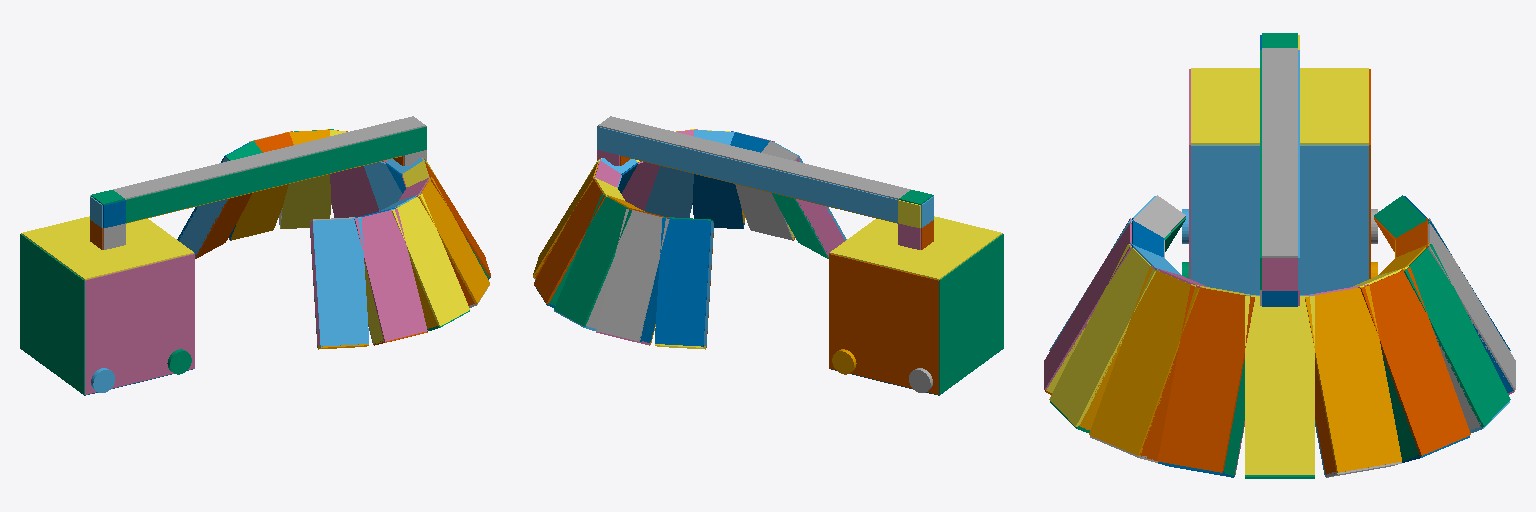
--- What the picture shows (computed from the rendered views, not written in the file) ---
The picture shows the robot from 3 angles, left to right: view 1: azimuth 30°, elevation 25°; view 2: azimuth 150°, elevation 25°; view 3: azimuth 270°, elevation 25°; orthographic projection.
Robot: robot — 109 links, 108 joints (2 continuous, 106 fixed); root link body; default pose: all joints at 0.
Links seen in each view (by area): view 1: body_sensor_0_right, body_sensor_0_stop, arm_sensor_0_right, hand_part_11_sensor_0_left, hand_part_12_sensor_0_left, body_sensor_0_top, hand_part_13_sensor_0_left, arm_sensor_0_top, hand_part_14_sensor_0_left, hand_part_3_sensor_0_right, hand_part_2_sensor_0_right, hand_part_4_sensor_0_right (+6 smaller); view 2: body_sensor_0_left, body_sensor_0_stop, arm_sensor_0_left, hand_part_5_sensor_0_left, hand_part_4_sensor_0_left, body_sensor_0_top, hand_part_3_sensor_0_left, arm_sensor_0_top, hand_part_2_sensor_0_left, hand_part_13_sensor_0_right, hand_part_14_sensor_0_right, hand_part_12_sensor_0_right (+6 smaller); view 3: body_sensor_0_start, hand_part_0_sensor_0_left, hand_part_1_sensor_0_left, hand_part_15_sensor_0_left, body_sensor_0_top, hand_part_2_sensor_0_left, hand_part_14_sensor_0_left, arm_sensor_0_top, hand_part_3_sensor_0_left, hand_part_13_sensor_0_left, hand_part_4_sensor_0_left, hand_part_12_sensor_0_left (+13 smaller).
Boxes of the visible links, x1=… form: body_sensor_0_right: x1=85, y1=254, x2=194, y2=394; body_sensor_0_stop: x1=20, y1=234, x2=84, y2=394; arm_sensor_0_right: x1=126, y1=127, x2=426, y2=222; hand_part_11_sensor_0_left: x1=313, y1=218, x2=368, y2=346; hand_part_12_sensor_0_left: x1=354, y1=209, x2=427, y2=341; body_sensor_0_top: x1=22, y1=216, x2=193, y2=279; hand_part_13_sensor_0_left: x1=392, y1=194, x2=469, y2=326; arm_sensor_0_top: x1=113, y1=116, x2=425, y2=199; hand_part_14_sensor_0_left: x1=418, y1=177, x2=489, y2=304; hand_part_3_sensor_0_right: x1=280, y1=174, x2=331, y2=228; hand_part_2_sensor_0_right: x1=330, y1=166, x2=379, y2=217; hand_part_4_sensor_0_right: x1=231, y1=184, x2=288, y2=240; body_sensor_0_left: x1=829, y1=254, x2=938, y2=394; body_sensor_0_stop: x1=939, y1=234, x2=1003, y2=394; arm_sensor_0_left: x1=597, y1=127, x2=897, y2=222; hand_part_5_sensor_0_left: x1=655, y1=218, x2=710, y2=346; hand_part_4_sensor_0_left: x1=596, y1=209, x2=669, y2=341; body_sensor_0_top: x1=830, y1=216, x2=1001, y2=279; hand_part_3_sensor_0_left: x1=554, y1=194, x2=631, y2=326; arm_sensor_0_top: x1=598, y1=116, x2=910, y2=199; hand_part_2_sensor_0_left: x1=534, y1=177, x2=605, y2=304; hand_part_13_sensor_0_right: x1=692, y1=174, x2=743, y2=228; hand_part_14_sensor_0_right: x1=644, y1=166, x2=693, y2=217; hand_part_12_sensor_0_right: x1=735, y1=184, x2=793, y2=240; body_sensor_0_start: x1=1191, y1=145, x2=1368, y2=294; hand_part_0_sensor_0_left: x1=1245, y1=296, x2=1314, y2=474; hand_part_1_sensor_0_left: x1=1305, y1=286, x2=1401, y2=472; hand_part_15_sensor_0_left: x1=1158, y1=286, x2=1254, y2=472; body_sensor_0_top: x1=1191, y1=68, x2=1368, y2=144; hand_part_2_sensor_0_left: x1=1360, y1=267, x2=1470, y2=455; hand_part_14_sensor_0_left: x1=1089, y1=267, x2=1199, y2=455; arm_sensor_0_top: x1=1262, y1=48, x2=1297, y2=257; hand_part_3_sensor_0_left: x1=1404, y1=244, x2=1510, y2=427; hand_part_13_sensor_0_left: x1=1049, y1=244, x2=1155, y2=426; hand_part_4_sensor_0_left: x1=1428, y1=218, x2=1515, y2=389; hand_part_12_sensor_0_left: x1=1044, y1=218, x2=1131, y2=389.
Size in the robot's own frame: 3.8 by 2.63 by 1.42 metres.
Geometry: primitives only (box / cylinder / sphere), no mesh files.

robot.urdf — robot:
<?xml version="1.0"?>
    <robot name="robot">


    <!-- body -->
    <link name="body">
        <inertial>
            <origin xyz="0 0 0" rpy="0 0 0"/>
            <mass value="100"/>
            <inertia ixx="15" ixy="0" ixz="0" iyy="15" iyz="0" izz="15"/>
        </inertial>
        <visual>
            <origin xyz="0 0 0" rpy="0 0 0"/>
            <geometry>
                <box size="1 1 1"/>
            </geometry>
        </visual>
        <collision>
            <origin xyz="0 0 0" rpy="0 0 0"/>
            <geometry>
                <box size="1 1 1"/>
            </geometry>
        </collision>
    </link>


    <!-- body_sensor_0_start -->
    <link name="body_sensor_0_start">
        <inertial>
            <origin xyz="0 0 0" rpy="0 0 0"/>
            <mass value="0"/>
            <inertia ixx="0" ixy="0" ixz="0" iyy="0" iyz="0" izz="0"/>
        </inertial>
        <visual>
            <origin xyz="0 0 0" rpy="0 0 0"/>
            <geometry>
                <box size="0.02 1 1"/>
            </geometry>
        </visual>
        <collision>
            <origin xyz="0 0 0" rpy="0 0 0"/>
            <geometry>
                <box size="0.02 1 1"/>
            </geometry>
        </collision>
    </link>
    <!-- Joint: body, body_sensor_0_start -->
    <joint name="body_body_sensor_0_start_joint" type="fixed">
        <parent link="body"/>
        <child link="body_sensor_0_start"/>
        <origin xyz="0.5 0 0"
                rpy="0 0 0"/>
        <axis xyz="0 0 1"/>
        
    </joint>


    <!-- body_sensor_0_stop -->
    <link name="body_sensor_0_stop">
        <inertial>
            <origin xyz="0 0 0" rpy="0 0 0"/>
            <mass value="0"/>
            <inertia ixx="0" ixy="0" ixz="0" iyy="0" iyz="0" izz="0"/>
        </inertial>
        <visual>
            <origin xyz="0 0 0" rpy="0 0 0"/>
            <geometry>
                <box size="0.02 1 1"/>
            </geometry>
        </visual>
        <collision>
            <origin xyz="0 0 0" rpy="0 0 0"/>
            <geometry>
                <box size="0.02 1 1"/>
            </geometry>
        </collision>
    </link>
    <!-- Joint: body, body_sensor_0_stop -->
    <joint name="body_body_sensor_0_stop_joint" type="fixed">
        <parent link="body"/>
        <child link="body_sensor_0_stop"/>
        <origin xyz="-0.5 0 0"
                rpy="0 0 0"/>
        <axis xyz="0 0 1"/>
        
    </joint>


    <!-- body_sensor_0_top -->
    <link name="body_sensor_0_top">
        <inertial>
            <origin xyz="0 0 0" rpy="0 0 0"/>
            <mass value="0"/>
            <inertia ixx="0" ixy="0" ixz="0" iyy="0" iyz="0" izz="0"/>
        </inertial>
        <visual>
            <origin xyz="0 0 0" rpy="0 0 0"/>
            <geometry>
                <box size="1.0 1 0.02"/>
            </geometry>
        </visual>
        <collision>
            <origin xyz="0 0 0" rpy="0 0 0"/>
            <geometry>
                <box size="1.0 1 0.02"/>
            </geometry>
        </collision>
    </link>
    <!-- Joint: body, body_sensor_0_top -->
    <joint name="body_body_sensor_0_top_joint" type="fixed">
        <parent link="body"/>
        <child link="body_sensor_0_top"/>
        <origin xyz="0 0 0.5"
                rpy="0 0 0"/>
        <axis xyz="0 0 1"/>
        
    </joint>


    <!-- body_sensor_0_bottom -->
    <link name="body_sensor_0_bottom">
        <inertial>
            <origin xyz="0 0 0" rpy="0 0 0"/>
            <mass value="0"/>
            <inertia ixx="0" ixy="0" ixz="0" iyy="0" iyz="0" izz="0"/>
        </inertial>
        <visual>
            <origin xyz="0 0 0" rpy="0 0 0"/>
            <geometry>
                <box size="1.0 1 0.02"/>
            </geometry>
        </visual>
        <collision>
            <origin xyz="0 0 0" rpy="0 0 0"/>
            <geometry>
                <box size="1.0 1 0.02"/>
            </geometry>
        </collision>
    </link>
    <!-- Joint: body, body_sensor_0_bottom -->
    <joint name="body_body_sensor_0_bottom_joint" type="fixed">
        <parent link="body"/>
        <child link="body_sensor_0_bottom"/>
        <origin xyz="0 0 -0.5"
                rpy="0 0 0"/>
        <axis xyz="0 0 1"/>
        
    </joint>


    <!-- body_sensor_0_left -->
    <link name="body_sensor_0_left">
        <inertial>
            <origin xyz="0 0 0" rpy="0 0 0"/>
            <mass value="0"/>
            <inertia ixx="0" ixy="0" ixz="0" iyy="0" iyz="0" izz="0"/>
        </inertial>
        <visual>
            <origin xyz="0 0 0" rpy="0 0 0"/>
            <geometry>
                <box size="1.0 0.02 1"/>
            </geometry>
        </visual>
        <collision>
            <origin xyz="0 0 0" rpy="0 0 0"/>
            <geometry>
                <box size="1.0 0.02 1"/>
            </geometry>
        </collision>
    </link>
    <!-- Joint: body, body_sensor_0_left -->
    <joint name="body_body_sensor_0_left_joint" type="fixed">
        <parent link="body"/>
        <child link="body_sensor_0_left"/>
        <origin xyz="0 0.5 0"
                rpy="0 0 0"/>
        <axis xyz="0 0 1"/>
        
    </joint>


    <!-- body_sensor_0_right -->
    <link name="body_sensor_0_right">
        <inertial>
            <origin xyz="0 0 0" rpy="0 0 0"/>
            <mass value="0"/>
            <inertia ixx="0" ixy="0" ixz="0" iyy="0" iyz="0" izz="0"/>
        </inertial>
        <visual>
            <origin xyz="0 0 0" rpy="0 0 0"/>
            <geometry>
                <box size="1.0 0.02 1"/>
            </geometry>
        </visual>
        <collision>
            <origin xyz="0 0 0" rpy="0 0 0"/>
            <geometry>
                <box size="1.0 0.02 1"/>
            </geometry>
        </collision>
    </link>
    <!-- Joint: body, body_sensor_0_right -->
    <joint name="body_body_sensor_0_right_joint" type="fixed">
        <parent link="body"/>
        <child link="body_sensor_0_right"/>
        <origin xyz="0 -0.5 0"
                rpy="0 0 0"/>
        <axis xyz="0 0 1"/>
        
    </joint>


    <!-- back_left_wheel -->
    <link name="back_left_wheel">
        <inertial>
            <origin xyz="0 0 0" rpy="0 0 0"/>
            <mass value="0.1"/>
            <inertia ixx="0.0005" ixy="0" ixz="0" iyy="0.0005" iyz="0" izz="0.0005"/>
        </inertial>
        <visual>
            <origin xyz="0 0 0" rpy="0 0 0"/>
            <geometry>
                <cylinder radius="0.1" length="0.1"/>
            </geometry>
        </visual>
        <collision>
            <origin xyz="0 0 0" rpy="0 0 0"/>
            <geometry>
                <cylinder radius="0.1" length="0.1"/>
            </geometry>
        </collision>
    </link>
    <!-- Joint: body, back_left_wheel -->
    <joint name="body_back_left_wheel_joint" type="fixed">
        <parent link="body"/>
        <child link="back_left_wheel"/>
        <origin xyz="-0.35 0.5 -0.4"
                rpy="1.5708 0 0"/>
        <axis xyz="1 0 0"/>
        
    </joint>


    <!-- from_left_wheel -->
    <link name="from_left_wheel">
        <inertial>
            <origin xyz="0 0 0" rpy="0 0 0"/>
            <mass value="0.1"/>
            <inertia ixx="0.0005" ixy="0" ixz="0" iyy="0.0005" iyz="0" izz="0.0005"/>
        </inertial>
        <visual>
            <origin xyz="0 0 0" rpy="0 0 0"/>
            <geometry>
                <cylinder radius="0.1" length="0.1"/>
            </geometry>
        </visual>
        <collision>
            <origin xyz="0 0 0" rpy="0 0 0"/>
            <geometry>
                <cylinder radius="0.1" length="0.1"/>
            </geometry>
        </collision>
    </link>
    <!-- Joint: body, from_left_wheel -->
    <joint name="body_from_left_wheel_joint" type="fixed">
        <parent link="body"/>
        <child link="from_left_wheel"/>
        <origin xyz="0.35 0.5 -0.4"
                rpy="1.5708 0 0"/>
        <axis xyz="1 0 0"/>
        
    </joint>


    <!-- back_right_wheel -->
    <link name="back_right_wheel">
        <inertial>
            <origin xyz="0 0 0" rpy="0 0 0"/>
            <mass value="0.1"/>
            <inertia ixx="0.0005" ixy="0" ixz="0" iyy="0.0005" iyz="0" izz="0.0005"/>
        </inertial>
        <visual>
            <origin xyz="0 0 0" rpy="0 0 0"/>
            <geometry>
                <cylinder radius="0.1" length="0.1"/>
            </geometry>
        </visual>
        <collision>
            <origin xyz="0 0 0" rpy="0 0 0"/>
            <geometry>
                <cylinder radius="0.1" length="0.1"/>
            </geometry>
        </collision>
    </link>
    <!-- Joint: body, back_right_wheel -->
    <joint name="body_back_right_wheel_joint" type="fixed">
        <parent link="body"/>
        <child link="back_right_wheel"/>
        <origin xyz="-0.35 -0.5 -0.4"
                rpy="1.5708 0 0"/>
        <axis xyz="1 0 0"/>
        
    </joint>


    <!-- from_right_wheel -->
    <link name="from_right_wheel">
        <inertial>
            <origin xyz="0 0 0" rpy="0 0 0"/>
            <mass value="0.1"/>
            <inertia ixx="0.0005" ixy="0" ixz="0" iyy="0.0005" iyz="0" izz="0.0005"/>
        </inertial>
        <visual>
            <origin xyz="0 0 0" rpy="0 0 0"/>
            <geometry>
                <cylinder radius="0.1" length="0.1"/>
            </geometry>
        </visual>
        <collision>
            <origin xyz="0 0 0" rpy="0 0 0"/>
            <geometry>
                <cylinder radius="0.1" length="0.1"/>
            </geometry>
        </collision>
    </link>
    <!-- Joint: body, from_right_wheel -->
    <joint name="body_from_right_wheel_joint" type="fixed">
        <parent link="body"/>
        <child link="from_right_wheel"/>
        <origin xyz="0.35 -0.5 -0.4"
                rpy="1.5708 0 0"/>
        <axis xyz="1 0 0"/>
        
    </joint>


    <!-- joint_1 -->
    <link name="joint_1">
        <inertial>
            <origin xyz="0 0 0" rpy="0 0 0"/>
            <mass value="2"/>
            <inertia ixx="0.01" ixy="0" ixz="0" iyy="0.01" iyz="0" izz="0.01"/>
        </inertial>
        <visual>
            <origin xyz="0 0 0" rpy="0 0 0"/>
            <geometry>
                <box size="0.2 0.2 0.2"/>
            </geometry>
        </visual>
        <collision>
            <origin xyz="0 0 0" rpy="0 0 0"/>
            <geometry>
                <box size="0.2 0.2 0.2"/>
            </geometry>
        </collision>
    </link>


    <!-- joint_1_sensor_0_start -->
    <link name="joint_1_sensor_0_start">
        <inertial>
            <origin xyz="0 0 0" rpy="0 0 0"/>
            <mass value="0"/>
            <inertia ixx="0" ixy="0" ixz="0" iyy="0" iyz="0" izz="0"/>
        </inertial>
        <visual>
            <origin xyz="0 0 0" rpy="0 0 0"/>
            <geometry>
                <box size="0.02 0.2 0.2"/>
            </geometry>
        </visual>
        <collision>
            <origin xyz="0 0 0" rpy="0 0 0"/>
            <geometry>
                <box size="0.02 0.2 0.2"/>
            </geometry>
        </collision>
    </link>
    <!-- Joint: joint_1, joint_1_sensor_0_start -->
    <joint name="joint_1_joint_1_sensor_0_start_joint" type="fixed">
        <parent link="joint_1"/>
        <child link="joint_1_sensor_0_start"/>
        <origin xyz="0.1 0 0"
                rpy="0 0 0"/>
        <axis xyz="0 0 1"/>
        
    </joint>


    <!-- joint_1_sensor_0_stop -->
    <link name="joint_1_sensor_0_stop">
        <inertial>
            <origin xyz="0 0 0" rpy="0 0 0"/>
            <mass value="0"/>
            <inertia ixx="0" ixy="0" ixz="0" iyy="0" iyz="0" izz="0"/>
        </inertial>
        <visual>
            <origin xyz="0 0 0" rpy="0 0 0"/>
            <geometry>
                <box size="0.02 0.2 0.2"/>
            </geometry>
        </visual>
        <collision>
            <origin xyz="0 0 0" rpy="0 0 0"/>
            <geometry>
                <box size="0.02 0.2 0.2"/>
            </geometry>
        </collision>
    </link>
    <!-- Joint: joint_1, joint_1_sensor_0_stop -->
    <joint name="joint_1_joint_1_sensor_0_stop_joint" type="fixed">
        <parent link="joint_1"/>
        <child link="joint_1_sensor_0_stop"/>
        <origin xyz="-0.1 0 0"
                rpy="0 0 0"/>
        <axis xyz="0 0 1"/>
        
    </joint>


    <!-- joint_1_sensor_0_left -->
    <link name="joint_1_sensor_0_left">
        <inertial>
            <origin xyz="0 0 0" rpy="0 0 0"/>
            <mass value="0"/>
            <inertia ixx="0" ixy="0" ixz="0" iyy="0" iyz="0" izz="0"/>
        </inertial>
        <visual>
            <origin xyz="0 0 0" rpy="0 0 0"/>
            <geometry>
                <box size="0.2 0.02 0.2"/>
            </geometry>
        </visual>
        <collision>
            <origin xyz="0 0 0" rpy="0 0 0"/>
            <geometry>
                <box size="0.2 0.02 0.2"/>
            </geometry>
        </collision>
    </link>
    <!-- Joint: joint_1, joint_1_sensor_0_left -->
    <joint name="joint_1_joint_1_sensor_0_left_joint" type="fixed">
        <parent link="joint_1"/>
        <child link="joint_1_sensor_0_left"/>
        <origin xyz="0 0.1 0"
                rpy="0 0 0"/>
        <axis xyz="0 0 1"/>
        
    </joint>


    <!-- joint_1_sensor_0_right -->
    <link name="joint_1_sensor_0_right">
        <inertial>
            <origin xyz="0 0 0" rpy="0 0 0"/>
            <mass value="0"/>
            <inertia ixx="0" ixy="0" ixz="0" iyy="0" iyz="0" izz="0"/>
        </inertial>
        <visual>
            <origin xyz="0 0 0" rpy="0 0 0"/>
            <geometry>
                <box size="0.2 0.02 0.2"/>
            </geometry>
        </visual>
        <collision>
            <origin xyz="0 0 0" rpy="0 0 0"/>
            <geometry>
                <box size="0.2 0.02 0.2"/>
            </geometry>
        </collision>
    </link>
    <!-- Joint: joint_1, joint_1_sensor_0_right -->
    <joint name="joint_1_joint_1_sensor_0_right_joint" type="fixed">
        <parent link="joint_1"/>
        <child link="joint_1_sensor_0_right"/>
        <origin xyz="0 -0.1 0"
                rpy="0 0 0"/>
        <axis xyz="0 0 1"/>
        
    </joint>
    <!-- Joint: body, joint_1 -->
    <joint name="body_joint_1_joint" type="continuous">
        <parent link="body"/>
        <child link="joint_1"/>
        <origin xyz="0 0 0.6"
                rpy="0 0 0"/>
        <axis xyz="0 0 1"/>
        <limit lower="-0.7853981633974483" upper="0.7853981633974483" effort="999" velocity="999"/>
    </joint>


    <!-- joint_2 -->
    <link name="joint_2">
        <inertial>
            <origin xyz="0 0 0" rpy="0 0 0"/>
            <mass value="2"/>
            <inertia ixx="0.01" ixy="0" ixz="0" iyy="0.01" iyz="0" izz="0.01"/>
        </inertial>
        <visual>
            <origin xyz="0 0 0" rpy="0 0 0"/>
            <geometry>
                <box size="0.2 0.2 0.2"/>
            </geometry>
        </visual>
        <collision>
            <origin xyz="0 0 0" rpy="0 0 0"/>
            <geometry>
                <box size="0.2 0.2 0.2"/>
            </geometry>
        </collision>
    </link>


    <!-- joint_2_sensor_0_stop -->
    <link name="joint_2_sensor_0_stop">
        <inertial>
            <origin xyz="0 0 0" rpy="0 0 0"/>
            <mass value="0"/>
            <inertia ixx="0" ixy="0" ixz="0" iyy="0" iyz="0" izz="0"/>
        </inertial>
        <visual>
            <origin xyz="0 0 0" rpy="0 0 0"/>
            <geometry>
                <box size="0.02 0.2 0.2"/>
            </geometry>
        </visual>
        <collision>
            <origin xyz="0 0 0" rpy="0 0 0"/>
            <geometry>
                <box size="0.02 0.2 0.2"/>
            </geometry>
        </collision>
    </link>
    <!-- Joint: joint_2, joint_2_sensor_0_stop -->
    <joint name="joint_2_joint_2_sensor_0_stop_joint" type="fixed">
        <parent link="joint_2"/>
        <child link="joint_2_sensor_0_stop"/>
        <origin xyz="-0.1 0 0"
                rpy="0 0 0"/>
        <axis xyz="0 1 0"/>
        
    </joint>


    <!-- joint_2_sensor_0_top -->
    <link name="joint_2_sensor_0_top">
        <inertial>
            <origin xyz="0 0 0" rpy="0 0 0"/>
            <mass value="0"/>
            <inertia ixx="0" ixy="0" ixz="0" iyy="0" iyz="0" izz="0"/>
        </inertial>
        <visual>
            <origin xyz="0 0 0" rpy="0 0 0"/>
            <geometry>
                <box size="0.2 0.2 0.02"/>
            </geometry>
        </visual>
        <collision>
            <origin xyz="0 0 0" rpy="0 0 0"/>
            <geometry>
                <box size="0.2 0.2 0.02"/>
            </geometry>
        </collision>
    </link>
    <!-- Joint: joint_2, joint_2_sensor_0_top -->
    <joint name="joint_2_joint_2_sensor_0_top_joint" type="fixed">
        <parent link="joint_2"/>
        <child link="joint_2_sensor_0_top"/>
        <origin xyz="0 0 0.1"
                rpy="0 0 0"/>
        <axis xyz="0 1 0"/>
        
    </joint>


    <!-- joint_2_sensor_0_left -->
    <link name="joint_2_sensor_0_left">
        <inertial>
            <origin xyz="0 0 0" rpy="0 0 0"/>
            <mass value="0"/>
            <inertia ixx="0" ixy="0" ixz="0" iyy="0" iyz="0" izz="0"/>
        </inertial>
        <visual>
            <origin xyz="0 0 0" rpy="0 0 0"/>
            <geometry>
                <box size="0.2 0.02 0.2"/>
            </geometry>
        </visual>
        <collision>
            <origin xyz="0 0 0" rpy="0 0 0"/>
            <geometry>
                <box size="0.2 0.02 0.2"/>
            </geometry>
        </collision>
    </link>
    <!-- Joint: joint_2, joint_2_sensor_0_left -->
    <joint name="joint_2_joint_2_sensor_0_left_joint" type="fixed">
        <parent link="joint_2"/>
        <child link="joint_2_sensor_0_left"/>
        <origin xyz="0 0.1 0"
                rpy="0 0 0"/>
        <axis xyz="0 1 0"/>
        
    </joint>


    <!-- joint_2_sensor_0_right -->
    <link name="joint_2_sensor_0_right">
        <inertial>
            <origin xyz="0 0 0" rpy="0 0 0"/>
            <mass value="0"/>
            <inertia ixx="0" ixy="0" ixz="0" iyy="0" iyz="0" izz="0"/>
        </inertial>
        <visual>
            <origin xyz="0 0 0" rpy="0 0 0"/>
            <geometry>
                <box size="0.2 0.02 0.2"/>
            </geometry>
        </visual>
        <collision>
            <origin xyz="0 0 0" rpy="0 0 0"/>
            <geometry>
                <box size="0.2 0.02 0.2"/>
            </geometry>
        </collision>
    </link>
    <!-- Joint: joint_2, joint_2_sensor_0_right -->
    <joint name="joint_2_joint_2_sensor_0_right_joint" type="fixed">
        <parent link="joint_2"/>
        <child link="joint_2_sensor_0_right"/>
        <origin xyz="0 -0.1 0"
                rpy="0 0 0"/>
        <axis xyz="0 1 0"/>
        
    </joint>
    <!-- Joint: joint_1, joint_2 -->
    <joint name="joint_1_joint_2_joint" type="continuous">
        <parent link="joint_1"/>
        <child link="joint_2"/>
        <origin xyz="0 0 0.2"
                rpy="0 0 0"/>
        <axis xyz="0 1 0"/>
        <limit lower="-1.5707963267948966" upper="0" effort="999" velocity="999"/>
    </joint>


    <!-- arm -->
    <link name="arm">
        <inertial>
            <origin xyz="0 0 0" rpy="0 0 0"/>
            <mass value="2"/>
            <inertia ixx="0.01" ixy="0" ixz="0" iyy="1.25" iyz="0" izz="1.25"/>
        </inertial>
        <visual>
            <origin xyz="0 0 0" rpy="0 0 0"/>
            <geometry>
                <box size="2.75 0.2 0.2"/>
            </geometry>
        </visual>
        <collision>
            <origin xyz="0 0 0" rpy="0 0 0"/>
            <geometry>
                <box size="2.75 0.2 0.2"/>
            </geometry>
        </collision>
    </link>


    <!-- arm_sensor_0_start -->
    <link name="arm_sensor_0_start">
        <inertial>
            <origin xyz="0 0 0" rpy="0 0 0"/>
            <mass value="0"/>
            <inertia ixx="0" ixy="0" ixz="0" iyy="0" iyz="0" izz="0"/>
        </inertial>
        <visual>
            <origin xyz="0 0 0" rpy="0 0 0"/>
            <geometry>
                <box size="0.02 0.2 0.2"/>
            </geometry>
        </visual>
        <collision>
            <origin xyz="0 0 0" rpy="0 0 0"/>
            <geometry>
                <box size="0.02 0.2 0.2"/>
            </geometry>
        </collision>
    </link>
    <!-- Joint: arm, arm_sensor_0_start -->
    <joint name="arm_arm_sensor_0_start_joint" type="fixed">
        <parent link="arm"/>
        <child link="arm_sensor_0_start"/>
        <origin xyz="1.375 0 0"
                rpy="0 0 0"/>
        <axis xyz="0 1 0"/>
        
    </joint>


    <!-- arm_sensor_0_top -->
    <link name="arm_sensor_0_top">
        <inertial>
            <origin xyz="0 0 0" rpy="0 0 0"/>
            <mass value="0"/>
            <inertia ixx="0" ixy="0" ixz="0" iyy="0" iyz="0" izz="0"/>
        </inertial>
        <visual>
            <origin xyz="0 0 0" rpy="0 0 0"/>
            <geometry>
                <box size="2.75 0.2 0.02"/>
            </geometry>
        </visual>
        <collision>
            <origin xyz="0 0 0" rpy="0 0 0"/>
            <geometry>
                <box size="2.75 0.2 0.02"/>
            </geometry>
        </collision>
    </link>
    <!-- Joint: arm, arm_sensor_0_top -->
    <joint name="arm_arm_sensor_0_top_joint" type="fixed">
        <parent link="arm"/>
        <child link="arm_sensor_0_top"/>
        <origin xyz="0 0 0.1"
                rpy="0 0 0"/>
        <axis xyz="0 1 0"/>
        
    </joint>


    <!-- arm_sensor_0_bottom -->
    <link name="arm_sensor_0_bottom">
        <inertial>
            <origin xyz="0 0 0" rpy="0 0 0"/>
            <mass value="0"/>
            <inertia ixx="0" ixy="0" ixz="0" iyy="0" iyz="0" izz="0"/>
        </inertial>
        <visual>
            <origin xyz="0 0 0" rpy="0 0 0"/>
            <geometry>
                <box size="2.75 0.2 0.02"/>
            </geometry>
        </visual>
        <collision>
            <origin xyz="0 0 0" rpy="0 0 0"/>
            <geometry>
                <box size="2.75 0.2 0.02"/>
            </geometry>
        </collision>
    </link>
    <!-- Joint: arm, arm_sensor_0_bottom -->
    <joint name="arm_arm_sensor_0_bottom_joint" type="fixed">
        <parent link="arm"/>
        <child link="arm_sensor_0_bottom"/>
        <origin xyz="0 0 -0.1"
                rpy="0 0 0"/>
        <axis xyz="0 1 0"/>
        
    </joint>


    <!-- arm_sensor_0_left -->
    <link name="arm_sensor_0_left">
        <inertial>
            <origin xyz="0 0 0" rpy="0 0 0"/>
            <mass value="0"/>
            <inertia ixx="0" ixy="0" ixz="0" iyy="0" iyz="0" izz="0"/>
        </inertial>
        <visual>
            <origin xyz="0 0 0" rpy="0 0 0"/>
            <geometry>
                <box size="2.75 0.02 0.2"/>
            </geometry>
        </visual>
        <collision>
            <origin xyz="0 0 0" rpy="0 0 0"/>
            <geometry>
                <box size="2.75 0.02 0.2"/>
            </geometry>
        </collision>
    </link>
    <!-- Joint: arm, arm_sensor_0_left -->
    <joint name="arm_arm_sensor_0_left_joint" type="fixed">
        <parent link="arm"/>
        <child link="arm_sensor_0_left"/>
        <origin xyz="0 0.1 0"
                rpy="0 0 0"/>
        <axis xyz="0 1 0"/>
        
    </joint>


    <!-- arm_sensor_0_right -->
    <link name="arm_sensor_0_right">
        <inertial>
            <origin xyz="0 0 0" rpy="0 0 0"/>
            <mass value="0"/>
            <inertia ixx="0" ixy="0" ixz="0" iyy="0" iyz="0" izz="0"/>
        </inertial>
        <visual>
            <origin xyz="0 0 0" rpy="0 0 0"/>
            <geometry>
                <box size="2.75 0.02 0.2"/>
            </geometry>
        </visual>
        <collision>
            <origin xyz="0 0 0" rpy="0 0 0"/>
            <geometry>
                <box size="2.75 0.02 0.2"/>
            </geometry>
        </collision>
    </link>
    <!-- Joint: arm, arm_sensor_0_right -->
    <joint name="arm_arm_sensor_0_right_joint" type="fixed">
        <parent link="arm"/>
        <child link="arm_sensor_0_right"/>
        <origin xyz="0 -0.1 0"
                rpy="0 0 0"/>
        <axis xyz="0 1 0"/>
        
    </joint>
    <!-- Joint: joint_2, arm -->
    <joint name="joint_2_arm_joint" type="fixed">
        <parent link="joint_2"/>
        <child link="arm"/>
        <origin xyz="1.475 0 0"
                rpy="0 0 0"/>
        <axis xyz="0 1 0"/>
        
    </joint>


    <!-- wrist -->
    <link name="wrist">
        <inertial>
            <origin xyz="0 0 0" rpy="0 0 0"/>
            <mass value="2"/>
            <inertia ixx="0.01" ixy="0" ixz="0" iyy="0.01" iyz="0" izz="0.01"/>
        </inertial>
        <visual>
            <origin xyz="0 0 0" rpy="0 0 0"/>
            <geometry>
                <box size="0.2 0.2 0.1"/>
            </geometry>
        </visual>
        <collision>
            <origin xyz="0 0 0" rpy="0 0 0"/>
            <geometry>
                <box size="0.2 0.2 0.1"/>
            </geometry>
        </collision>
    </link>


    <!-- wrist_sensor_0_start -->
    <link name="wrist_sensor_0_start">
        <inertial>
            <origin xyz="0 0 0" rpy="0 0 0"/>
            <mass value="0"/>
            <inertia ixx="0" ixy="0" ixz="0" iyy="0" iyz="0" izz="0"/>
        </inertial>
        <visual>
            <origin xyz="0 0 0" rpy="0 0 0"/>
            <geometry>
                <box size="0.02 0.2 0.1"/>
            </geometry>
        </visual>
        <collision>
            <origin xyz="0 0 0" rpy="0 0 0"/>
            <geometry>
                <box size="0.02 0.2 0.1"/>
            </geometry>
        </collision>
    </link>
    <!-- Joint: wrist, wrist_sensor_0_start -->
    <joint name="wrist_wrist_sensor_0_start_joint" type="fixed">
        <parent link="wrist"/>
        <child link="wrist_sensor_0_start"/>
        <origin xyz="0.1 0 0"
                rpy="0 0 0"/>
        <axis xyz="0 1 0"/>
        
    </joint>


    <!-- wrist_sensor_0_stop -->
    <link name="wrist_sensor_0_stop">
        <inertial>
            <origin xyz="0 0 0" rpy="0 0 0"/>
            <mass value="0"/>
            <inertia ixx="0" ixy="0" ixz="0" iyy="0" iyz="0" izz="0"/>
        </inertial>
        <visual>
            <origin xyz="0 0 0" rpy="0 0 0"/>
            <geometry>
                <box size="0.02 0.2 0.1"/>
            </geometry>
        </visual>
        <collision>
            <origin xyz="0 0 0" rpy="0 0 0"/>
            <geometry>
                <box size="0.02 0.2 0.1"/>
            </geometry>
        </collision>
    </link>
    <!-- Joint: wrist, wrist_sensor_0_stop -->
    <joint name="wrist_wrist_sensor_0_stop_joint" type="fixed">
        <parent link="wrist"/>
        <child link="wrist_sensor_0_stop"/>
        <origin xyz="-0.1 0 0"
                rpy="0 0 0"/>
        <axis xyz="0 1 0"/>
        
    </joint>


    <!-- wrist_sensor_0_left -->
    <link name="wrist_sensor_0_left">
        <inertial>
            <origin xyz="0 0 0" rpy="0 0 0"/>
            <mass value="0"/>
            <inertia ixx="0" ixy="0" ixz="0" iyy="0" iyz="0" izz="0"/>
        </inertial>
        <visual>
            <origin xyz="0 0 0" rpy="0 0 0"/>
            <geometry>
                <box size="0.2 0.02 0.1"/>
            </geometry>
        </visual>
        <collision>
            <origin xyz="0 0 0" rpy="0 0 0"/>
            <geometry>
                <box size="0.2 0.02 0.1"/>
            </geometry>
        </collision>
    </link>
    <!-- Joint: wrist, wrist_sensor_0_left -->
    <joint name="wrist_wrist_sensor_0_left_joint" type="fixed">
        <parent link="wrist"/>
        <child link="wrist_sensor_0_left"/>
        <origin xyz="0 0.1 0"
                rpy="0 0 0"/>
        <axis xyz="0 1 0"/>
        
    </joint>


    <!-- wrist_sensor_0_right -->
    <link name="wrist_sensor_0_right">
        <inertial>
            <origin xyz="0 0 0" rpy="0 0 0"/>
            <mass value="0"/>
            <inertia ixx="0" ixy="0" ixz="0" iyy="0" iyz="0" izz="0"/>
        </inertial>
        <visual>
            <origin xyz="0 0 0" rpy="0 0 0"/>
            <geometry>
                <box size="0.2 0.02 0.1"/>
            </geometry>
        </visual>
        <collision>
            <origin xyz="0 0 0" rpy="0 0 0"/>
            <geometry>
                <box size="0.2 0.02 0.1"/>
            </geometry>
        </collision>
    </link>
    <!-- Joint: wrist, wrist_sensor_0_right -->
    <joint name="wrist_wrist_sensor_0_right_joint" type="fixed">
        <parent link="wrist"/>
        <child link="wrist_sensor_0_right"/>
        <origin xyz="0 -0.1 0"
                rpy="0 0 0"/>
        <axis xyz="0 1 0"/>
        
    </joint>
    <!-- Joint: arm, wrist -->
    <joint name="arm_wrist_joint" type="fixed">
        <parent link="arm"/>
        <child link="wrist"/>
        <origin xyz="1.275 0 -0.15000000000000002"
                rpy="0 0 0"/>
        <axis xyz="0 1 0"/>
        
    </joint>


    <!-- hand_part_0 -->
    <link name="hand_part_0">
        <inertial>
            <origin xyz="0 0 0" rpy="0 0 0"/>
            <mass value="2"/>
            <inertia ixx="0.2" ixy="0" ixz="0" iyy="0.2" iyz="0" izz="0.03"/>
        </inertial>
        <visual>
            <origin xyz="0 0 0" rpy="0 0 0"/>
            <geometry>
                <box size="0.3901806440322565 0.2 1"/>
            </geometry>
        </visual>
        <collision>
            <origin xyz="0 0 0" rpy="0 0 0"/>
            <geometry>
                <box size="0.3901806440322565 0.2 1"/>
            </geometry>
        </collision>
    </link>


    <!-- hand_part_0_sensor_0_top -->
    <link name="hand_part_0_sensor_0_top">
        <inertial>
            <origin xyz="0 0 0" rpy="0 0 0"/>
            <mass value="0"/>
            <inertia ixx="0" ixy="0" ixz="0" iyy="0" iyz="0" izz="0"/>
        </inertial>
        <visual>
            <origin xyz="0 0 0" rpy="0 0 0"/>
            <geometry>
                <box size="0.3901806440322565 0.2 0.02"/>
            </geometry>
        </visual>
        <collision>
            <origin xyz="0 0 0" rpy="0 0 0"/>
            <geometry>
                <box size="0.3901806440322565 0.2 0.02"/>
            </geometry>
        </collision>
    </link>
    <!-- Joint: hand_part_0, hand_part_0_sensor_0_top -->
    <joint name="hand_part_0_hand_part_0_sensor_0_top_joint" type="fixed">
        <parent link="hand_part_0"/>
        <child link="hand_part_0_sensor_0_top"/>
        <origin xyz="0 0 0.5"
                rpy="0 0 0"/>
        <axis xyz="0 1 0"/>
        
    </joint>


    <!-- hand_part_0_sensor_0_bottom -->
    <link name="hand_part_0_sensor_0_bottom">
        <inertial>
            <origin xyz="0 0 0" rpy="0 0 0"/>
            <mass value="0"/>
            <inertia ixx="0" ixy="0" ixz="0" iyy="0" iyz="0" izz="0"/>
        </inertial>
        <visual>
            <origin xyz="0 0 0" rpy="0 0 0"/>
            <geometry>
                <box size="0.3901806440322565 0.2 0.02"/>
            </geometry>
        </visual>
        <collision>
            <origin xyz="0 0 0" rpy="0 0 0"/>
            <geometry>
                <box size="0.3901806440322565 0.2 0.02"/>
            </geometry>
        </collision>
    </link>
    <!-- Joint: hand_part_0, hand_part_0_sensor_0_bottom -->
    <joint name="hand_part_0_hand_part_0_sensor_0_bottom_joint" type="fixed">
        <parent link="hand_part_0"/>
        <child link="hand_part_0_sensor_0_bottom"/>
        <origin xyz="0 0 -0.5"
                rpy="0 0 0"/>
        <axis xyz="0 1 0"/>
        
    </joint>


    <!-- hand_part_0_sensor_0_left -->
    <link name="hand_part_0_sensor_0_left">
        <inertial>
            <origin xyz="0 0 0" rpy="0 0 0"/>
            <mass value="0"/>
            <inertia ixx="0" ixy="0" ixz="0" iyy="0" iyz="0" izz="0"/>
        </inertial>
        <visual>
            <origin xyz="0 0 0" rpy="0 0 0"/>
            <geometry>
                <box size="0.3901806440322565 0.02 1"/>
            </geometry>
        </visual>
        <collision>
            <origin xyz="0 0 0" rpy="0 0 0"/>
            <geometry>
                <box size="0.3901806440322565 0.02 1"/>
            </geometry>
        </collision>
    </link>
    <!-- Joint: hand_part_0, hand_part_0_sensor_0_left -->
    <joint name="hand_part_0_hand_part_0_sensor_0_left_joint" type="fixed">
        <parent link="hand_part_0"/>
        <child link="hand_part_0_sensor_0_left"/>
        <origin xyz="0 0.1 0"
                rpy="0 0 0"/>
        <axis xyz="0 1 0"/>
        
    </joint>


    <!-- hand_part_0_sensor_0_right -->
    <link name="hand_part_0_sensor_0_right">
        <inertial>
            <origin xyz="0 0 0" rpy="0 0 0"/>
            <mass value="0"/>
            <inertia ixx="0" ixy="0" ixz="0" iyy="0" iyz="0" izz="0"/>
        </inertial>
        <visual>
            <origin xyz="0 0 0" rpy="0 0 0"/>
            <geometry>
                <box size="0.3901806440322565 0.02 1"/>
            </geometry>
        </visual>
        <collision>
            <origin xyz="0 0 0" rpy="0 0 0"/>
            <geometry>
                <box size="0.3901806440322565 0.02 1"/>
            </geometry>
        </collision>
    </link>
    <!-- Joint: hand_part_0, hand_part_0_sensor_0_right -->
    <joint name="hand_part_0_hand_part_0_sensor_0_right_joint" type="fixed">
        <parent link="hand_part_0"/>
        <child link="hand_part_0_sensor_0_right"/>
        <origin xyz="0 -0.1 0"
                rpy="0 0 0"/>
        <axis xyz="0 1 0"/>
        
    </joint>
    <!-- Joint: wrist, hand_part_0 -->
    <joint name="wrist_hand_part_0_joint" type="fixed">
        <parent link="wrist"/>
        <child link="hand_part_0"/>
        <origin xyz="0.2 0.0 -0.5"
                rpy="0.5 0 -1.5707963267948966"/>
        <axis xyz="0 1 0"/>
        
    </joint>


    <!-- hand_part_1 -->
    <link name="hand_part_1">
        <inertial>
            <origin xyz="0 0 0" rpy="0 0 0"/>
            <mass value="2"/>
            <inertia ixx="0.2" ixy="0" ixz="0" iyy="0.2" iyz="0" izz="0.03"/>
        </inertial>
        <visual>
            <origin xyz="0 0 0" rpy="0 0 0"/>
            <geometry>
                <box size="0.3901806440322565 0.2 1"/>
            </geometry>
        </visual>
        <collision>
            <origin xyz="0 0 0" rpy="0 0 0"/>
            <geometry>
                <box size="0.3901806440322565 0.2 1"/>
            </geometry>
        </collision>
    </link>


    <!-- hand_part_1_sensor_0_top -->
    <link name="hand_part_1_sensor_0_top">
        <inertial>
            <origin xyz="0 0 0" rpy="0 0 0"/>
            <mass value="0"/>
            <inertia ixx="0" ixy="0" ixz="0" iyy="0" iyz="0" izz="0"/>
        </inertial>
        <visual>
            <origin xyz="0 0 0" rpy="0 0 0"/>
            <geometry>
                <box size="0.3901806440322565 0.2 0.02"/>
            </geometry>
        </visual>
        <collision>
            <origin xyz="0 0 0" rpy="0 0 0"/>
            <geometry>
                <box size="0.3901806440322565 0.2 0.02"/>
            </geometry>
        </collision>
    </link>
    <!-- Joint: hand_part_1, hand_part_1_sensor_0_top -->
    <joint name="hand_part_1_hand_part_1_sensor_0_top_joint" type="fixed">
        <parent link="hand_part_1"/>
        <child link="hand_part_1_sensor_0_top"/>
        <origin xyz="0 0 0.5"
                rpy="0 0 0"/>
        <axis xyz="0 1 0"/>
        
    </joint>


    <!-- hand_part_1_sensor_0_bottom -->
    <link name="hand_part_1_sensor_0_bottom">
        <inertial>
            <origin xyz="0 0 0" rpy="0 0 0"/>
            <mass value="0"/>
            <inertia ixx="0" ixy="0" ixz="0" iyy="0" iyz="0" izz="0"/>
        </inertial>
        <visual>
            <origin xyz="0 0 0" rpy="0 0 0"/>
            <geometry>
                <box size="0.3901806440322565 0.2 0.02"/>
            </geometry>
        </visual>
        <collision>
            <origin xyz="0 0 0" rpy="0 0 0"/>
            <geometry>
                <box size="0.3901806440322565 0.2 0.02"/>
            </geometry>
        </collision>
    </link>
    <!-- Joint: hand_part_1, hand_part_1_sensor_0_bottom -->
    <joint name="hand_part_1_hand_part_1_sensor_0_bottom_joint" type="fixed">
        <parent link="hand_part_1"/>
        <child link="hand_part_1_sensor_0_bottom"/>
        <origin xyz="0 0 -0.5"
                rpy="0 0 0"/>
        <axis xyz="0 1 0"/>
        
    </joint>


    <!-- hand_part_1_sensor_0_left -->
    <link name="hand_part_1_sensor_0_left">
        <inertial>
            <origin xyz="0 0 0" rpy="0 0 0"/>
            <mass value="0"/>
            <inertia ixx="0" ixy="0" ixz="0" iyy="0" iyz="0" izz="0"/>
        </inertial>
        <visual>
            <origin xyz="0 0 0" rpy="0 0 0"/>
            <geometry>
                <box size="0.3901806440322565 0.02 1"/>
            </geometry>
        </visual>
        <collision>
            <origin xyz="0 0 0" rpy="0 0 0"/>
            <geometry>
                <box size="0.3901806440322565 0.02 1"/>
            </geometry>
        </collision>
    </link>
    <!-- Joint: hand_part_1, hand_part_1_sensor_0_left -->
    <joint name="hand_part_1_hand_part_1_sensor_0_left_joint" type="fixed">
        <parent link="hand_part_1"/>
        <child link="hand_part_1_sensor_0_left"/>
        <origin xyz="0 0.1 0"
                rpy="0 0 0"/>
        <axis xyz="0 1 0"/>
        
    </joint>


    <!-- hand_part_1_sensor_0_right -->
    <link name="hand_part_1_sensor_0_right">
        <inertial>
            <origin xyz="0 0 0" rpy="0 0 0"/>
            <mass value="0"/>
            <inertia ixx="0" ixy="0" ixz="0" iyy="0" iyz="0" izz="0"/>
        </inertial>
        <visual>
            <origin xyz="0 0 0" rpy="0 0 0"/>
            <geometry>
                <box size="0.3901806440322565 0.02 1"/>
            </geometry>
        </visual>
        <collision>
            <origin xyz="0 0 0" rpy="0 0 0"/>
            <geometry>
                <box size="0.3901806440322565 0.02 1"/>
            </geometry>
        </collision>
    </link>
    <!-- Joint: hand_part_1, hand_part_1_sensor_0_right -->
    <joint name="hand_part_1_hand_part_1_sensor_0_right_joint" type="fixed">
        <parent link="hand_part_1"/>
        <child link="hand_part_1_sensor_0_right"/>
        <origin xyz="0 -0.1 0"
                rpy="0 0 0"/>
        <axis xyz="0 1 0"/>
        
    </joint>
    <!-- Joint: wrist, hand_part_1 -->
    <joint name="wrist_hand_part_1_joint" type="fixed">
        <parent link="wrist"/>
        <child link="hand_part_1"/>
        <origin xyz="0.1253421659496574 0.3753302775178652 -0.5"
                rpy="0.5 0 -1.1780972450961724"/>
        <axis xyz="0 1 0"/>
        
    </joint>


    <!-- hand_part_2 -->
    <link name="hand_part_2">
        <inertial>
            <origin xyz="0 0 0" rpy="0 0 0"/>
            <mass value="2"/>
            <inertia ixx="0.2" ixy="0" ixz="0" iyy="0.2" iyz="0" izz="0.03"/>
        </inertial>
        <visual>
            <origin xyz="0 0 0" rpy="0 0 0"/>
            <geometry>
                <box size="0.3901806440322565 0.2 1"/>
            </geometry>
        </visual>
        <collision>
            <origin xyz="0 0 0" rpy="0 0 0"/>
            <geometry>
                <box size="0.3901806440322565 0.2 1"/>
            </geometry>
        </collision>
    </link>


    <!-- hand_part_2_sensor_0_top -->
    <link name="hand_part_2_sensor_0_top">
        <inertial>
            <origin xyz="0 0 0" rpy="0 0 0"/>
            <mass value="0"/>
            <inertia ixx="0" ixy="0" ixz="0" iyy="0" iyz="0" izz="0"/>
        </inertial>
        <visual>
            <origin xyz="0 0 0" rpy="0 0 0"/>
            <geometry>
                <box size="0.3901806440322565 0.2 0.02"/>
            </geometry>
        </visual>
        <collision>
            <origin xyz="0 0 0" rpy="0 0 0"/>
            <geometry>
                <box size="0.3901806440322565 0.2 0.02"/>
            </geometry>
        </collision>
    </link>
    <!-- Joint: hand_part_2, hand_part_2_sensor_0_top -->
    <joint name="hand_part_2_hand_part_2_sensor_0_top_joint" type="fixed">
        <parent link="hand_part_2"/>
        <child link="hand_part_2_sensor_0_top"/>
        <origin xyz="0 0 0.5"
                rpy="0 0 0"/>
        <axis xyz="0 1 0"/>
        
    </joint>


    <!-- hand_part_2_sensor_0_bottom -->
    <link name="hand_part_2_sensor_0_bottom">
        <inertial>
            <origin xyz="0 0 0" rpy="0 0 0"/>
            <mass value="0"/>
            <inertia ixx="0" ixy="0" ixz="0" iyy="0" iyz="0" izz="0"/>
        </inertial>
        <visual>
            <origin xyz="0 0 0" rpy="0 0 0"/>
            <geometry>
                <box size="0.3901806440322565 0.2 0.02"/>
            </geometry>
        </visual>
        <collision>
            <origin xyz="0 0 0" rpy="0 0 0"/>
            <geometry>
                <box size="0.3901806440322565 0.2 0.02"/>
            </geometry>
        </collision>
    </link>
    <!-- Joint: hand_part_2, hand_part_2_sensor_0_bottom -->
    <joint name="hand_part_2_hand_part_2_sensor_0_bottom_joint" type="fixed">
        <parent link="hand_part_2"/>
        <child link="hand_part_2_sensor_0_bottom"/>
        <origin xyz="0 0 -0.5"
                rpy="0 0 0"/>
        <axis xyz="0 1 0"/>
        
    </joint>


    <!-- hand_part_2_sensor_0_left -->
    <link name="hand_part_2_sensor_0_left">
        <inertial>
            <origin xyz="0 0 0" rpy="0 0 0"/>
            <mass value="0"/>
            <inertia ixx="0" ixy="0" ixz="0" iyy="0" iyz="0" izz="0"/>
        </inertial>
        <visual>
            <origin xyz="0 0 0" rpy="0 0 0"/>
            <geometry>
                <box size="0.3901806440322565 0.02 1"/>
            </geometry>
        </visual>
        <collision>
            <origin xyz="0 0 0" rpy="0 0 0"/>
            <geometry>
                <box size="0.3901806440322565 0.02 1"/>
            </geometry>
        </collision>
    </link>
    <!-- Joint: hand_part_2, hand_part_2_sensor_0_left -->
    <joint name="hand_part_2_hand_part_2_sensor_0_left_joint" type="fixed">
        <parent link="hand_part_2"/>
        <child link="hand_part_2_sensor_0_left"/>
        <origin xyz="0 0.1 0"
                rpy="0 0 0"/>
        <axis xyz="0 1 0"/>
        
    </joint>


    <!-- hand_part_2_sensor_0_right -->
    <link name="hand_part_2_sensor_0_right">
        <inertial>
            <origin xyz="0 0 0" rpy="0 0 0"/>
            <mass value="0"/>
            <inertia ixx="0" ixy="0" ixz="0" iyy="0" iyz="0" izz="0"/>
        </inertial>
        <visual>
            <origin xyz="0 0 0" rpy="0 0 0"/>
            <geometry>
                <box size="0.3901806440322565 0.02 1"/>
            </geometry>
        </visual>
        <collision>
            <origin xyz="0 0 0" rpy="0 0 0"/>
            <geometry>
                <box size="0.3901806440322565 0.02 1"/>
            </geometry>
        </collision>
    </link>
    <!-- Joint: hand_part_2, hand_part_2_sensor_0_right -->
    <joint name="hand_part_2_hand_part_2_sensor_0_right_joint" type="fixed">
        <parent link="hand_part_2"/>
        <child link="hand_part_2_sensor_0_right"/>
        <origin xyz="0 -0.1 0"
                rpy="0 0 0"/>
        <axis xyz="0 1 0"/>
        
    </joint>
    <!-- Joint: wrist, hand_part_2 -->
    <joint name="wrist_hand_part_2_joint" type="fixed">
        <parent link="wrist"/>
        <child link="hand_part_2"/>
        <origin xyz="-0.0872653577421566 0.6935199226610735 -0.5"
                rpy="0.5 0 -0.7853981633974483"/>
        <axis xyz="0 1 0"/>
        
    </joint>


    <!-- hand_part_3 -->
    <link name="hand_part_3">
        <inertial>
            <origin xyz="0 0 0" rpy="0 0 0"/>
            <mass value="2"/>
            <inertia ixx="0.2" ixy="0" ixz="0" iyy="0.2" iyz="0" izz="0.03"/>
        </inertial>
        <visual>
            <origin xyz="0 0 0" rpy="0 0 0"/>
            <geometry>
                <box size="0.3901806440322565 0.2 1"/>
            </geometry>
        </visual>
        <collision>
            <origin xyz="0 0 0" rpy="0 0 0"/>
            <geometry>
                <box size="0.3901806440322565 0.2 1"/>
            </geometry>
        </collision>
    </link>


    <!-- hand_part_3_sensor_0_top -->
    <link name="hand_part_3_sensor_0_top">
        <inertial>
            <origin xyz="0 0 0" rpy="0 0 0"/>
            <mass value="0"/>
            <inertia ixx="0" ixy="0" ixz="0" iyy="0" iyz="0" izz="0"/>
        </inertial>
        <visual>
            <origin xyz="0 0 0" rpy="0 0 0"/>
            <geometry>
                <box size="0.3901806440322565 0.2 0.02"/>
            </geometry>
        </visual>
        <collision>
            <origin xyz="0 0 0" rpy="0 0 0"/>
            <geometry>
                <box size="0.3901806440322565 0.2 0.02"/>
            </geometry>
        </collision>
    </link>
    <!-- Joint: hand_part_3, hand_part_3_sensor_0_top -->
    <joint name="hand_part_3_hand_part_3_sensor_0_top_joint" type="fixed">
        <parent link="hand_part_3"/>
        <child link="hand_part_3_sensor_0_top"/>
        <origin xyz="0 0 0.5"
                rpy="0 0 0"/>
        <axis xyz="0 1 0"/>
        
    </joint>


    <!-- hand_part_3_sensor_0_bottom -->
    <link name="hand_part_3_sensor_0_bottom">
        <inertial>
            <origin xyz="0 0 0" rpy="0 0 0"/>
            <mass value="0"/>
            <inertia ixx="0" ixy="0" ixz="0" iyy="0" iyz="0" izz="0"/>
        </inertial>
        <visual>
            <origin xyz="0 0 0" rpy="0 0 0"/>
            <geometry>
                <box size="0.3901806440322565 0.2 0.02"/>
            </geometry>
        </visual>
        <collision>
            <origin xyz="0 0 0" rpy="0 0 0"/>
            <geometry>
                <box size="0.3901806440322565 0.2 0.02"/>
            </geometry>
        </collision>
    </link>
    <!-- Joint: hand_part_3, hand_part_3_sensor_0_bottom -->
    <joint name="hand_part_3_hand_part_3_sensor_0_bottom_joint" type="fixed">
        <parent link="hand_part_3"/>
        <child link="hand_part_3_sensor_0_bottom"/>
        <origin xyz="0 0 -0.5"
                rpy="0 0 0"/>
        <axis xyz="0 1 0"/>
        
    </joint>


    <!-- hand_part_3_sensor_0_left -->
    <link name="hand_part_3_sensor_0_left">
        <inertial>
            <origin xyz="0 0 0" rpy="0 0 0"/>
            <mass value="0"/>
            <inertia ixx="0" ixy="0" ixz="0" iyy="0" iyz="0" izz="0"/>
        </inertial>
        <visual>
            <origin xyz="0 0 0" rpy="0 0 0"/>
            <geometry>
                <box size="0.3901806440322565 0.02 1"/>
            </geometry>
        </visual>
        <collision>
            <origin xyz="0 0 0" rpy="0 0 0"/>
            <geometry>
                <box size="0.3901806440322565 0.02 1"/>
            </geometry>
        </collision>
    </link>
    <!-- Joint: hand_part_3, hand_part_3_sensor_0_left -->
    <joint name="hand_part_3_hand_part_3_sensor_0_left_joint" type="fixed">
        <parent link="hand_part_3"/>
        <child link="hand_part_3_sensor_0_left"/>
        <origin xyz="0 0.1 0"
                rpy="0 0 0"/>
        <axis xyz="0 1 0"/>
        
    </joint>


    <!-- hand_part_3_sensor_0_right -->
    <link name="hand_part_3_sensor_0_right">
        <inertial>
            <origin xyz="0 0 0" rpy="0 0 0"/>
            <mass value="0"/>
            <inertia ixx="0" ixy="0" ixz="0" iyy="0" iyz="0" izz="0"/>
        </inertial>
        <visual>
            <origin xyz="0 0 0" rpy="0 0 0"/>
            <geometry>
                <box size="0.3901806440322565 0.02 1"/>
            </geometry>
        </visual>
        <collision>
            <origin xyz="0 0 0" rpy="0 0 0"/>
            <geometry>
                <box size="0.3901806440322565 0.02 1"/>
            </geometry>
        </collision>
    </link>
    <!-- Joint: hand_part_3, hand_part_3_sensor_0_right -->
    <joint name="hand_part_3_hand_part_3_sensor_0_right_joint" type="fixed">
        <parent link="hand_part_3"/>
        <child link="hand_part_3_sensor_0_right"/>
        <origin xyz="0 -0.1 0"
                rpy="0 0 0"/>
        <axis xyz="0 1 0"/>
        
    </joint>
    <!-- Joint: wrist, hand_part_3 -->
    <joint name="wrist_hand_part_3_joint" type="fixed">
        <parent link="wrist"/>
        <child link="hand_part_3"/>
        <origin xyz="-0.405455002885365 0.9061274463528877 -0.5"
                rpy="0.5 0 -0.39269908169872414"/>
        <axis xyz="0 1 0"/>
        
    </joint>


    <!-- hand_part_4 -->
    <link name="hand_part_4">
        <inertial>
            <origin xyz="0 0 0" rpy="0 0 0"/>
            <mass value="2"/>
            <inertia ixx="0.2" ixy="0" ixz="0" iyy="0.2" iyz="0" izz="0.03"/>
        </inertial>
        <visual>
            <origin xyz="0 0 0" rpy="0 0 0"/>
            <geometry>
                <box size="0.3901806440322565 0.2 1"/>
            </geometry>
        </visual>
        <collision>
            <origin xyz="0 0 0" rpy="0 0 0"/>
            <geometry>
                <box size="0.3901806440322565 0.2 1"/>
            </geometry>
        </collision>
    </link>


    <!-- hand_part_4_sensor_0_top -->
    <link name="hand_part_4_sensor_0_top">
        <inertial>
            <origin xyz="0 0 0" rpy="0 0 0"/>
            <mass value="0"/>
            <inertia ixx="0" ixy="0" ixz="0" iyy="0" iyz="0" izz="0"/>
        </inertial>
        <visual>
            <origin xyz="0 0 0" rpy="0 0 0"/>
            <geometry>
                <box size="0.3901806440322565 0.2 0.02"/>
            </geometry>
        </visual>
        <collision>
            <origin xyz="0 0 0" rpy="0 0 0"/>
            <geometry>
                <box size="0.3901806440322565 0.2 0.02"/>
            </geometry>
        </collision>
    </link>
    <!-- Joint: hand_part_4, hand_part_4_sensor_0_top -->
    <joint name="hand_part_4_hand_part_4_sensor_0_top_joint" type="fixed">
        <parent link="hand_part_4"/>
        <child link="hand_part_4_sensor_0_top"/>
        <origin xyz="0 0 0.5"
                rpy="0 0 0"/>
        <axis xyz="0 1 0"/>
        
    </joint>


    <!-- hand_part_4_sensor_0_bottom -->
    <link name="hand_part_4_sensor_0_bottom">
        <inertial>
            <origin xyz="0 0 0" rpy="0 0 0"/>
            <mass value="0"/>
            <inertia ixx="0" ixy="0" ixz="0" iyy="0" iyz="0" izz="0"/>
        </inertial>
        <visual>
            <origin xyz="0 0 0" rpy="0 0 0"/>
            <geometry>
                <box size="0.3901806440322565 0.2 0.02"/>
            </geometry>
        </visual>
        <collision>
            <origin xyz="0 0 0" rpy="0 0 0"/>
            <geometry>
                <box size="0.3901806440322565 0.2 0.02"/>
            </geometry>
        </collision>
    </link>
    <!-- Joint: hand_part_4, hand_part_4_sensor_0_bottom -->
    <joint name="hand_part_4_hand_part_4_sensor_0_bottom_joint" type="fixed">
        <parent link="hand_part_4"/>
        <child link="hand_part_4_sensor_0_bottom"/>
        <origin xyz="0 0 -0.5"
                rpy="0 0 0"/>
        <axis xyz="0 1 0"/>
        
    </joint>


    <!-- hand_part_4_sensor_0_left -->
    <link name="hand_part_4_sensor_0_left">
        <inertial>
            <origin xyz="0 0 0" rpy="0 0 0"/>
            <mass value="0"/>
            <inertia ixx="0" ixy="0" ixz="0" iyy="0" iyz="0" izz="0"/>
        </inertial>
        <visual>
            <origin xyz="0 0 0" rpy="0 0 0"/>
            <geometry>
                <box size="0.3901806440322565 0.02 1"/>
            </geometry>
        </visual>
        <collision>
            <origin xyz="0 0 0" rpy="0 0 0"/>
            <geometry>
                <box size="0.3901806440322565 0.02 1"/>
            </geometry>
        </collision>
    </link>
    <!-- Joint: hand_part_4, hand_part_4_sensor_0_left -->
    <joint name="hand_part_4_hand_part_4_sensor_0_left_joint" type="fixed">
        <parent link="hand_part_4"/>
        <child link="hand_part_4_sensor_0_left"/>
        <origin xyz="0 0.1 0"
                rpy="0 0 0"/>
        <axis xyz="0 1 0"/>
        
    </joint>


    <!-- hand_part_4_sensor_0_right -->
    <link name="hand_part_4_sensor_0_right">
        <inertial>
            <origin xyz="0 0 0" rpy="0 0 0"/>
            <mass value="0"/>
            <inertia ixx="0" ixy="0" ixz="0" iyy="0" iyz="0" izz="0"/>
        </inertial>
        <visual>
            <origin xyz="0 0 0" rpy="0 0 0"/>
            <geometry>
                <box size="0.3901806440322565 0.02 1"/>
            </geometry>
        </visual>
        <collision>
            <origin xyz="0 0 0" rpy="0 0 0"/>
            <geometry>
                <box size="0.3901806440322565 0.02 1"/>
            </geometry>
        </collision>
    </link>
    <!-- Joint: hand_part_4, hand_part_4_sensor_0_right -->
    <joint name="hand_part_4_hand_part_4_sensor_0_right_joint" type="fixed">
        <parent link="hand_part_4"/>
        <child link="hand_part_4_sensor_0_right"/>
        <origin xyz="0 -0.1 0"
                rpy="0 0 0"/>
        <axis xyz="0 1 0"/>
        
    </joint>
    <!-- Joint: wrist, hand_part_4 -->
    <joint name="wrist_hand_part_4_joint" type="fixed">
        <parent link="wrist"/>
        <child link="hand_part_4"/>
        <origin xyz="-0.7807852804032303 0.9807852804032303 -0.5"
                rpy="0.5 0 0.0"/>
        <axis xyz="0 1 0"/>
        
    </joint>


    <!-- hand_part_5 -->
    <link name="hand_part_5">
        <inertial>
            <origin xyz="0 0 0" rpy="0 0 0"/>
            <mass value="2"/>
            <inertia ixx="0.2" ixy="0" ixz="0" iyy="0.2" iyz="0" izz="0.03"/>
        </inertial>
        <visual>
            <origin xyz="0 0 0" rpy="0 0 0"/>
            <geometry>
                <box size="0.3901806440322565 0.2 1"/>
            </geometry>
        </visual>
        <collision>
            <origin xyz="0 0 0" rpy="0 0 0"/>
            <geometry>
                <box size="0.3901806440322565 0.2 1"/>
            </geometry>
        </collision>
    </link>


    <!-- hand_part_5_sensor_0_top -->
    <link name="hand_part_5_sensor_0_top">
        <inertial>
            <origin xyz="0 0 0" rpy="0 0 0"/>
            <mass value="0"/>
            <inertia ixx="0" ixy="0" ixz="0" iyy="0" iyz="0" izz="0"/>
        </inertial>
        <visual>
            <origin xyz="0 0 0" rpy="0 0 0"/>
            <geometry>
                <box size="0.3901806440322565 0.2 0.02"/>
            </geometry>
        </visual>
        <collision>
            <origin xyz="0 0 0" rpy="0 0 0"/>
            <geometry>
                <box size="0.3901806440322565 0.2 0.02"/>
            </geometry>
        </collision>
    </link>
    <!-- Joint: hand_part_5, hand_part_5_sensor_0_top -->
    <joint name="hand_part_5_hand_part_5_sensor_0_top_joint" type="fixed">
        <parent link="hand_part_5"/>
        <child link="hand_part_5_sensor_0_top"/>
        <origin xyz="0 0 0.5"
                rpy="0 0 0"/>
        <axis xyz="0 1 0"/>
        
    </joint>


    <!-- hand_part_5_sensor_0_bottom -->
    <link name="hand_part_5_sensor_0_bottom">
        <inertial>
            <origin xyz="0 0 0" rpy="0 0 0"/>
            <mass value="0"/>
            <inertia ixx="0" ixy="0" ixz="0" iyy="0" iyz="0" izz="0"/>
        </inertial>
        <visual>
            <origin xyz="0 0 0" rpy="0 0 0"/>
            <geometry>
                <box size="0.3901806440322565 0.2 0.02"/>
            </geometry>
        </visual>
        <collision>
            <origin xyz="0 0 0" rpy="0 0 0"/>
            <geometry>
                <box size="0.3901806440322565 0.2 0.02"/>
            </geometry>
        </collision>
    </link>
    <!-- Joint: hand_part_5, hand_part_5_sensor_0_bottom -->
    <joint name="hand_part_5_hand_part_5_sensor_0_bottom_joint" type="fixed">
        <parent link="hand_part_5"/>
        <child link="hand_part_5_sensor_0_bottom"/>
        <origin xyz="0 0 -0.5"
                rpy="0 0 0"/>
        <axis xyz="0 1 0"/>
        
    </joint>


    <!-- hand_part_5_sensor_0_left -->
    <link name="hand_part_5_sensor_0_left">
        <inertial>
            <origin xyz="0 0 0" rpy="0 0 0"/>
            <mass value="0"/>
            <inertia ixx="0" ixy="0" ixz="0" iyy="0" iyz="0" izz="0"/>
        </inertial>
        <visual>
            <origin xyz="0 0 0" rpy="0 0 0"/>
            <geometry>
                <box size="0.3901806440322565 0.02 1"/>
            </geometry>
        </visual>
        <collision>
            <origin xyz="0 0 0" rpy="0 0 0"/>
            <geometry>
                <box size="0.3901806440322565 0.02 1"/>
            </geometry>
        </collision>
    </link>
    <!-- Joint: hand_part_5, hand_part_5_sensor_0_left -->
    <joint name="hand_part_5_hand_part_5_sensor_0_left_joint" type="fixed">
        <parent link="hand_part_5"/>
        <child link="hand_part_5_sensor_0_left"/>
        <origin xyz="0 0.1 0"
                rpy="0 0 0"/>
        <axis xyz="0 1 0"/>
        
    </joint>


    <!-- hand_part_5_sensor_0_right -->
    <link name="hand_part_5_sensor_0_right">
        <inertial>
            <origin xyz="0 0 0" rpy="0 0 0"/>
            <mass value="0"/>
            <inertia ixx="0" ixy="0" ixz="0" iyy="0" iyz="0" izz="0"/>
        </inertial>
        <visual>
            <origin xyz="0 0 0" rpy="0 0 0"/>
            <geometry>
                <box size="0.3901806440322565 0.02 1"/>
            </geometry>
        </visual>
        <collision>
            <origin xyz="0 0 0" rpy="0 0 0"/>
            <geometry>
                <box size="0.3901806440322565 0.02 1"/>
            </geometry>
        </collision>
    </link>
    <!-- Joint: hand_part_5, hand_part_5_sensor_0_right -->
    <joint name="hand_part_5_hand_part_5_sensor_0_right_joint" type="fixed">
        <parent link="hand_part_5"/>
        <child link="hand_part_5_sensor_0_right"/>
        <origin xyz="0 -0.1 0"
                rpy="0 0 0"/>
        <axis xyz="0 1 0"/>
        
    </joint>
    <!-- Joint: wrist, hand_part_5 -->
    <joint name="wrist_hand_part_5_joint" type="fixed">
        <parent link="wrist"/>
        <child link="hand_part_5"/>
        <origin xyz="-1.1561155579210953 0.9061274463528877 -0.5"
                rpy="0.5 0 0.39269908169872414"/>
        <axis xyz="0 1 0"/>
        
    </joint>


    <!-- hand_part_11 -->
    <link name="hand_part_11">
        <inertial>
            <origin xyz="0 0 0" rpy="0 0 0"/>
            <mass value="2"/>
            <inertia ixx="0.2" ixy="0" ixz="0" iyy="0.2" iyz="0" izz="0.03"/>
        </inertial>
        <visual>
            <origin xyz="0 0 0" rpy="0 0 0"/>
            <geometry>
                <box size="0.3901806440322565 0.2 1"/>
            </geometry>
        </visual>
        <collision>
            <origin xyz="0 0 0" rpy="0 0 0"/>
            <geometry>
                <box size="0.3901806440322565 0.2 1"/>
            </geometry>
        </collision>
    </link>


    <!-- hand_part_11_sensor_0_top -->
    <link name="hand_part_11_sensor_0_top">
        <inertial>
            <origin xyz="0 0 0" rpy="0 0 0"/>
            <mass value="0"/>
            <inertia ixx="0" ixy="0" ixz="0" iyy="0" iyz="0" izz="0"/>
        </inertial>
        <visual>
            <origin xyz="0 0 0" rpy="0 0 0"/>
            <geometry>
                <box size="0.3901806440322565 0.2 0.02"/>
            </geometry>
        </visual>
        <collision>
            <origin xyz="0 0 0" rpy="0 0 0"/>
            <geometry>
                <box size="0.3901806440322565 0.2 0.02"/>
            </geometry>
        </collision>
    </link>
    <!-- Joint: hand_part_11, hand_part_11_sensor_0_top -->
    <joint name="hand_part_11_hand_part_11_sensor_0_top_joint" type="fixed">
        <parent link="hand_part_11"/>
        <child link="hand_part_11_sensor_0_top"/>
        <origin xyz="0 0 0.5"
                rpy="0 0 0"/>
        <axis xyz="0 1 0"/>
        
    </joint>


    <!-- hand_part_11_sensor_0_bottom -->
    <link name="hand_part_11_sensor_0_bottom">
        <inertial>
            <origin xyz="0 0 0" rpy="0 0 0"/>
            <mass value="0"/>
            <inertia ixx="0" ixy="0" ixz="0" iyy="0" iyz="0" izz="0"/>
        </inertial>
        <visual>
            <origin xyz="0 0 0" rpy="0 0 0"/>
            <geometry>
                <box size="0.3901806440322565 0.2 0.02"/>
            </geometry>
        </visual>
        <collision>
            <origin xyz="0 0 0" rpy="0 0 0"/>
            <geometry>
                <box size="0.3901806440322565 0.2 0.02"/>
            </geometry>
        </collision>
    </link>
    <!-- Joint: hand_part_11, hand_part_11_sensor_0_bottom -->
    <joint name="hand_part_11_hand_part_11_sensor_0_bottom_joint" type="fixed">
        <parent link="hand_part_11"/>
        <child link="hand_part_11_sensor_0_bottom"/>
        <origin xyz="0 0 -0.5"
                rpy="0 0 0"/>
        <axis xyz="0 1 0"/>
        
    </joint>


    <!-- hand_part_11_sensor_0_left -->
    <link name="hand_part_11_sensor_0_left">
        <inertial>
            <origin xyz="0 0 0" rpy="0 0 0"/>
            <mass value="0"/>
            <inertia ixx="0" ixy="0" ixz="0" iyy="0" iyz="0" izz="0"/>
        </inertial>
        <visual>
            <origin xyz="0 0 0" rpy="0 0 0"/>
            <geometry>
                <box size="0.3901806440322565 0.02 1"/>
            </geometry>
        </visual>
        <collision>
            <origin xyz="0 0 0" rpy="0 0 0"/>
            <geometry>
                <box size="0.3901806440322565 0.02 1"/>
            </geometry>
        </collision>
    </link>
    <!-- Joint: hand_part_11, hand_part_11_sensor_0_left -->
    <joint name="hand_part_11_hand_part_11_sensor_0_left_joint" type="fixed">
        <parent link="hand_part_11"/>
        <child link="hand_part_11_sensor_0_left"/>
        <origin xyz="0 0.1 0"
                rpy="0 0 0"/>
        <axis xyz="0 1 0"/>
        
    </joint>


    <!-- hand_part_11_sensor_0_right -->
    <link name="hand_part_11_sensor_0_right">
        <inertial>
            <origin xyz="0 0 0" rpy="0 0 0"/>
            <mass value="0"/>
            <inertia ixx="0" ixy="0" ixz="0" iyy="0" iyz="0" izz="0"/>
        </inertial>
        <visual>
            <origin xyz="0 0 0" rpy="0 0 0"/>
            <geometry>
                <box size="0.3901806440322565 0.02 1"/>
            </geometry>
        </visual>
        <collision>
            <origin xyz="0 0 0" rpy="0 0 0"/>
            <geometry>
                <box size="0.3901806440322565 0.02 1"/>
            </geometry>
        </collision>
    </link>
    <!-- Joint: hand_part_11, hand_part_11_sensor_0_right -->
    <joint name="hand_part_11_hand_part_11_sensor_0_right_joint" type="fixed">
        <parent link="hand_part_11"/>
        <child link="hand_part_11_sensor_0_right"/>
        <origin xyz="0 -0.1 0"
                rpy="0 0 0"/>
        <axis xyz="0 1 0"/>
        
    </joint>
    <!-- Joint: wrist, hand_part_11 -->
    <joint name="wrist_hand_part_11_joint" type="fixed">
        <parent link="wrist"/>
        <child link="hand_part_11"/>
        <origin xyz="-1.156115557921096 -0.9061274463528874 -0.5"
                rpy="0.5 0 2.7488935718910685"/>
        <axis xyz="0 1 0"/>
        
    </joint>


    <!-- hand_part_12 -->
    <link name="hand_part_12">
        <inertial>
            <origin xyz="0 0 0" rpy="0 0 0"/>
            <mass value="2"/>
            <inertia ixx="0.2" ixy="0" ixz="0" iyy="0.2" iyz="0" izz="0.03"/>
        </inertial>
        <visual>
            <origin xyz="0 0 0" rpy="0 0 0"/>
            <geometry>
                <box size="0.3901806440322565 0.2 1"/>
            </geometry>
        </visual>
        <collision>
            <origin xyz="0 0 0" rpy="0 0 0"/>
            <geometry>
                <box size="0.3901806440322565 0.2 1"/>
            </geometry>
        </collision>
    </link>


    <!-- hand_part_12_sensor_0_top -->
    <link name="hand_part_12_sensor_0_top">
        <inertial>
            <origin xyz="0 0 0" rpy="0 0 0"/>
            <mass value="0"/>
            <inertia ixx="0" ixy="0" ixz="0" iyy="0" iyz="0" izz="0"/>
        </inertial>
        <visual>
            <origin xyz="0 0 0" rpy="0 0 0"/>
            <geometry>
                <box size="0.3901806440322565 0.2 0.02"/>
            </geometry>
        </visual>
        <collision>
            <origin xyz="0 0 0" rpy="0 0 0"/>
            <geometry>
                <box size="0.3901806440322565 0.2 0.02"/>
            </geometry>
        </collision>
    </link>
    <!-- Joint: hand_part_12, hand_part_12_sensor_0_top -->
    <joint name="hand_part_12_hand_part_12_sensor_0_top_joint" type="fixed">
        <parent link="hand_part_12"/>
        <child link="hand_part_12_sensor_0_top"/>
        <origin xyz="0 0 0.5"
                rpy="0 0 0"/>
        <axis xyz="0 1 0"/>
        
    </joint>


    <!-- hand_part_12_sensor_0_bottom -->
    <link name="hand_part_12_sensor_0_bottom">
        <inertial>
            <origin xyz="0 0 0" rpy="0 0 0"/>
            <mass value="0"/>
            <inertia ixx="0" ixy="0" ixz="0" iyy="0" iyz="0" izz="0"/>
        </inertial>
        <visual>
            <origin xyz="0 0 0" rpy="0 0 0"/>
            <geometry>
                <box size="0.3901806440322565 0.2 0.02"/>
            </geometry>
        </visual>
        <collision>
            <origin xyz="0 0 0" rpy="0 0 0"/>
            <geometry>
                <box size="0.3901806440322565 0.2 0.02"/>
            </geometry>
        </collision>
    </link>
    <!-- Joint: hand_part_12, hand_part_12_sensor_0_bottom -->
    <joint name="hand_part_12_hand_part_12_sensor_0_bottom_joint" type="fixed">
        <parent link="hand_part_12"/>
        <child link="hand_part_12_sensor_0_bottom"/>
        <origin xyz="0 0 -0.5"
                rpy="0 0 0"/>
        <axis xyz="0 1 0"/>
        
    </joint>


    <!-- hand_part_12_sensor_0_left -->
    <link name="hand_part_12_sensor_0_left">
        <inertial>
            <origin xyz="0 0 0" rpy="0 0 0"/>
            <mass value="0"/>
            <inertia ixx="0" ixy="0" ixz="0" iyy="0" iyz="0" izz="0"/>
        </inertial>
        <visual>
            <origin xyz="0 0 0" rpy="0 0 0"/>
            <geometry>
                <box size="0.3901806440322565 0.02 1"/>
            </geometry>
        </visual>
        <collision>
            <origin xyz="0 0 0" rpy="0 0 0"/>
            <geometry>
                <box size="0.3901806440322565 0.02 1"/>
            </geometry>
        </collision>
    </link>
    <!-- Joint: hand_part_12, hand_part_12_sensor_0_left -->
    <joint name="hand_part_12_hand_part_12_sensor_0_left_joint" type="fixed">
        <parent link="hand_part_12"/>
        <child link="hand_part_12_sensor_0_left"/>
        <origin xyz="0 0.1 0"
                rpy="0 0 0"/>
        <axis xyz="0 1 0"/>
        
    </joint>


    <!-- hand_part_12_sensor_0_right -->
    <link name="hand_part_12_sensor_0_right">
        <inertial>
            <origin xyz="0 0 0" rpy="0 0 0"/>
            <mass value="0"/>
            <inertia ixx="0" ixy="0" ixz="0" iyy="0" iyz="0" izz="0"/>
        </inertial>
        <visual>
            <origin xyz="0 0 0" rpy="0 0 0"/>
            <geometry>
                <box size="0.3901806440322565 0.02 1"/>
            </geometry>
        </visual>
        <collision>
            <origin xyz="0 0 0" rpy="0 0 0"/>
            <geometry>
                <box size="0.3901806440322565 0.02 1"/>
            </geometry>
        </collision>
    </link>
    <!-- Joint: hand_part_12, hand_part_12_sensor_0_right -->
    <joint name="hand_part_12_hand_part_12_sensor_0_right_joint" type="fixed">
        <parent link="hand_part_12"/>
        <child link="hand_part_12_sensor_0_right"/>
        <origin xyz="0 -0.1 0"
                rpy="0 0 0"/>
        <axis xyz="0 1 0"/>
        
    </joint>
    <!-- Joint: wrist, hand_part_12 -->
    <joint name="wrist_hand_part_12_joint" type="fixed">
        <parent link="wrist"/>
        <child link="hand_part_12"/>
        <origin xyz="-0.7807852804032305 -0.9807852804032303 -0.5"
                rpy="0.5 0 3.141592653589793"/>
        <axis xyz="0 1 0"/>
        
    </joint>


    <!-- hand_part_13 -->
    <link name="hand_part_13">
        <inertial>
            <origin xyz="0 0 0" rpy="0 0 0"/>
            <mass value="2"/>
            <inertia ixx="0.2" ixy="0" ixz="0" iyy="0.2" iyz="0" izz="0.03"/>
        </inertial>
        <visual>
            <origin xyz="0 0 0" rpy="0 0 0"/>
            <geometry>
                <box size="0.3901806440322565 0.2 1"/>
            </geometry>
        </visual>
        <collision>
            <origin xyz="0 0 0" rpy="0 0 0"/>
            <geometry>
                <box size="0.3901806440322565 0.2 1"/>
            </geometry>
        </collision>
    </link>


    <!-- hand_part_13_sensor_0_top -->
    <link name="hand_part_13_sensor_0_top">
        <inertial>
            <origin xyz="0 0 0" rpy="0 0 0"/>
            <mass value="0"/>
            <inertia ixx="0" ixy="0" ixz="0" iyy="0" iyz="0" izz="0"/>
        </inertial>
        <visual>
            <origin xyz="0 0 0" rpy="0 0 0"/>
            <geometry>
                <box size="0.3901806440322565 0.2 0.02"/>
            </geometry>
        </visual>
        <collision>
            <origin xyz="0 0 0" rpy="0 0 0"/>
            <geometry>
                <box size="0.3901806440322565 0.2 0.02"/>
            </geometry>
        </collision>
    </link>
    <!-- Joint: hand_part_13, hand_part_13_sensor_0_top -->
    <joint name="hand_part_13_hand_part_13_sensor_0_top_joint" type="fixed">
        <parent link="hand_part_13"/>
        <child link="hand_part_13_sensor_0_top"/>
        <origin xyz="0 0 0.5"
                rpy="0 0 0"/>
        <axis xyz="0 1 0"/>
        
    </joint>


    <!-- hand_part_13_sensor_0_bottom -->
    <link name="hand_part_13_sensor_0_bottom">
        <inertial>
            <origin xyz="0 0 0" rpy="0 0 0"/>
            <mass value="0"/>
            <inertia ixx="0" ixy="0" ixz="0" iyy="0" iyz="0" izz="0"/>
        </inertial>
        <visual>
            <origin xyz="0 0 0" rpy="0 0 0"/>
            <geometry>
                <box size="0.3901806440322565 0.2 0.02"/>
            </geometry>
        </visual>
        <collision>
            <origin xyz="0 0 0" rpy="0 0 0"/>
            <geometry>
                <box size="0.3901806440322565 0.2 0.02"/>
            </geometry>
        </collision>
    </link>
    <!-- Joint: hand_part_13, hand_part_13_sensor_0_bottom -->
    <joint name="hand_part_13_hand_part_13_sensor_0_bottom_joint" type="fixed">
        <parent link="hand_part_13"/>
        <child link="hand_part_13_sensor_0_bottom"/>
        <origin xyz="0 0 -0.5"
                rpy="0 0 0"/>
        <axis xyz="0 1 0"/>
        
    </joint>


    <!-- hand_part_13_sensor_0_left -->
    <link name="hand_part_13_sensor_0_left">
        <inertial>
            <origin xyz="0 0 0" rpy="0 0 0"/>
            <mass value="0"/>
            <inertia ixx="0" ixy="0" ixz="0" iyy="0" iyz="0" izz="0"/>
        </inertial>
        <visual>
            <origin xyz="0 0 0" rpy="0 0 0"/>
            <geometry>
                <box size="0.3901806440322565 0.02 1"/>
            </geometry>
        </visual>
        <collision>
            <origin xyz="0 0 0" rpy="0 0 0"/>
            <geometry>
                <box size="0.3901806440322565 0.02 1"/>
            </geometry>
        </collision>
    </link>
    <!-- Joint: hand_part_13, hand_part_13_sensor_0_left -->
    <joint name="hand_part_13_hand_part_13_sensor_0_left_joint" type="fixed">
        <parent link="hand_part_13"/>
        <child link="hand_part_13_sensor_0_left"/>
        <origin xyz="0 0.1 0"
                rpy="0 0 0"/>
        <axis xyz="0 1 0"/>
        
    </joint>


    <!-- hand_part_13_sensor_0_right -->
    <link name="hand_part_13_sensor_0_right">
        <inertial>
            <origin xyz="0 0 0" rpy="0 0 0"/>
            <mass value="0"/>
            <inertia ixx="0" ixy="0" ixz="0" iyy="0" iyz="0" izz="0"/>
        </inertial>
        <visual>
            <origin xyz="0 0 0" rpy="0 0 0"/>
            <geometry>
                <box size="0.3901806440322565 0.02 1"/>
            </geometry>
        </visual>
        <collision>
            <origin xyz="0 0 0" rpy="0 0 0"/>
            <geometry>
                <box size="0.3901806440322565 0.02 1"/>
            </geometry>
        </collision>
    </link>
    <!-- Joint: hand_part_13, hand_part_13_sensor_0_right -->
    <joint name="hand_part_13_hand_part_13_sensor_0_right_joint" type="fixed">
        <parent link="hand_part_13"/>
        <child link="hand_part_13_sensor_0_right"/>
        <origin xyz="0 -0.1 0"
                rpy="0 0 0"/>
        <axis xyz="0 1 0"/>
        
    </joint>
    <!-- Joint: wrist, hand_part_13 -->
    <joint name="wrist_hand_part_13_joint" type="fixed">
        <parent link="wrist"/>
        <child link="hand_part_13"/>
        <origin xyz="-0.4054550028853648 -0.9061274463528876 -0.5"
                rpy="0.5 0 3.5342917352885177"/>
        <axis xyz="0 1 0"/>
        
    </joint>


    <!-- hand_part_14 -->
    <link name="hand_part_14">
        <inertial>
            <origin xyz="0 0 0" rpy="0 0 0"/>
            <mass value="2"/>
            <inertia ixx="0.2" ixy="0" ixz="0" iyy="0.2" iyz="0" izz="0.03"/>
        </inertial>
        <visual>
            <origin xyz="0 0 0" rpy="0 0 0"/>
            <geometry>
                <box size="0.3901806440322565 0.2 1"/>
            </geometry>
        </visual>
        <collision>
            <origin xyz="0 0 0" rpy="0 0 0"/>
            <geometry>
                <box size="0.3901806440322565 0.2 1"/>
            </geometry>
        </collision>
    </link>


    <!-- hand_part_14_sensor_0_top -->
    <link name="hand_part_14_sensor_0_top">
        <inertial>
            <origin xyz="0 0 0" rpy="0 0 0"/>
            <mass value="0"/>
            <inertia ixx="0" ixy="0" ixz="0" iyy="0" iyz="0" izz="0"/>
        </inertial>
        <visual>
            <origin xyz="0 0 0" rpy="0 0 0"/>
            <geometry>
                <box size="0.3901806440322565 0.2 0.02"/>
            </geometry>
        </visual>
        <collision>
            <origin xyz="0 0 0" rpy="0 0 0"/>
            <geometry>
                <box size="0.3901806440322565 0.2 0.02"/>
            </geometry>
        </collision>
    </link>
    <!-- Joint: hand_part_14, hand_part_14_sensor_0_top -->
    <joint name="hand_part_14_hand_part_14_sensor_0_top_joint" type="fixed">
        <parent link="hand_part_14"/>
        <child link="hand_part_14_sensor_0_top"/>
        <origin xyz="0 0 0.5"
                rpy="0 0 0"/>
        <axis xyz="0 1 0"/>
        
    </joint>


    <!-- hand_part_14_sensor_0_bottom -->
    <link name="hand_part_14_sensor_0_bottom">
        <inertial>
            <origin xyz="0 0 0" rpy="0 0 0"/>
            <mass value="0"/>
            <inertia ixx="0" ixy="0" ixz="0" iyy="0" iyz="0" izz="0"/>
        </inertial>
        <visual>
            <origin xyz="0 0 0" rpy="0 0 0"/>
            <geometry>
                <box size="0.3901806440322565 0.2 0.02"/>
            </geometry>
        </visual>
        <collision>
            <origin xyz="0 0 0" rpy="0 0 0"/>
            <geometry>
                <box size="0.3901806440322565 0.2 0.02"/>
            </geometry>
        </collision>
    </link>
    <!-- Joint: hand_part_14, hand_part_14_sensor_0_bottom -->
    <joint name="hand_part_14_hand_part_14_sensor_0_bottom_joint" type="fixed">
        <parent link="hand_part_14"/>
        <child link="hand_part_14_sensor_0_bottom"/>
        <origin xyz="0 0 -0.5"
                rpy="0 0 0"/>
        <axis xyz="0 1 0"/>
        
    </joint>


    <!-- hand_part_14_sensor_0_left -->
    <link name="hand_part_14_sensor_0_left">
        <inertial>
            <origin xyz="0 0 0" rpy="0 0 0"/>
            <mass value="0"/>
            <inertia ixx="0" ixy="0" ixz="0" iyy="0" iyz="0" izz="0"/>
        </inertial>
        <visual>
            <origin xyz="0 0 0" rpy="0 0 0"/>
            <geometry>
                <box size="0.3901806440322565 0.02 1"/>
            </geometry>
        </visual>
        <collision>
            <origin xyz="0 0 0" rpy="0 0 0"/>
            <geometry>
                <box size="0.3901806440322565 0.02 1"/>
            </geometry>
        </collision>
    </link>
    <!-- Joint: hand_part_14, hand_part_14_sensor_0_left -->
    <joint name="hand_part_14_hand_part_14_sensor_0_left_joint" type="fixed">
        <parent link="hand_part_14"/>
        <child link="hand_part_14_sensor_0_left"/>
        <origin xyz="0 0.1 0"
                rpy="0 0 0"/>
        <axis xyz="0 1 0"/>
        
    </joint>


    <!-- hand_part_14_sensor_0_right -->
    <link name="hand_part_14_sensor_0_right">
        <inertial>
            <origin xyz="0 0 0" rpy="0 0 0"/>
            <mass value="0"/>
            <inertia ixx="0" ixy="0" ixz="0" iyy="0" iyz="0" izz="0"/>
        </inertial>
        <visual>
            <origin xyz="0 0 0" rpy="0 0 0"/>
            <geometry>
                <box size="0.3901806440322565 0.02 1"/>
            </geometry>
        </visual>
        <collision>
            <origin xyz="0 0 0" rpy="0 0 0"/>
            <geometry>
                <box size="0.3901806440322565 0.02 1"/>
            </geometry>
        </collision>
    </link>
    <!-- Joint: hand_part_14, hand_part_14_sensor_0_right -->
    <joint name="hand_part_14_hand_part_14_sensor_0_right_joint" type="fixed">
        <parent link="hand_part_14"/>
        <child link="hand_part_14_sensor_0_right"/>
        <origin xyz="0 -0.1 0"
                rpy="0 0 0"/>
        <axis xyz="0 1 0"/>
        
    </joint>
    <!-- Joint: wrist, hand_part_14 -->
    <joint name="wrist_hand_part_14_joint" type="fixed">
        <parent link="wrist"/>
        <child link="hand_part_14"/>
        <origin xyz="-0.08726535774215682 -0.6935199226610738 -0.5"
                rpy="0.5 0 3.9269908169872414"/>
        <axis xyz="0 1 0"/>
        
    </joint>


    <!-- hand_part_15 -->
    <link name="hand_part_15">
        <inertial>
            <origin xyz="0 0 0" rpy="0 0 0"/>
            <mass value="2"/>
            <inertia ixx="0.2" ixy="0" ixz="0" iyy="0.2" iyz="0" izz="0.03"/>
        </inertial>
        <visual>
            <origin xyz="0 0 0" rpy="0 0 0"/>
            <geometry>
                <box size="0.3901806440322565 0.2 1"/>
            </geometry>
        </visual>
        <collision>
            <origin xyz="0 0 0" rpy="0 0 0"/>
            <geometry>
                <box size="0.3901806440322565 0.2 1"/>
            </geometry>
        </collision>
    </link>


    <!-- hand_part_15_sensor_0_top -->
    <link name="hand_part_15_sensor_0_top">
        <inertial>
            <origin xyz="0 0 0" rpy="0 0 0"/>
            <mass value="0"/>
            <inertia ixx="0" ixy="0" ixz="0" iyy="0" iyz="0" izz="0"/>
        </inertial>
        <visual>
            <origin xyz="0 0 0" rpy="0 0 0"/>
            <geometry>
                <box size="0.3901806440322565 0.2 0.02"/>
            </geometry>
        </visual>
        <collision>
            <origin xyz="0 0 0" rpy="0 0 0"/>
            <geometry>
                <box size="0.3901806440322565 0.2 0.02"/>
            </geometry>
        </collision>
    </link>
    <!-- Joint: hand_part_15, hand_part_15_sensor_0_top -->
    <joint name="hand_part_15_hand_part_15_sensor_0_top_joint" type="fixed">
        <parent link="hand_part_15"/>
        <child link="hand_part_15_sensor_0_top"/>
        <origin xyz="0 0 0.5"
                rpy="0 0 0"/>
        <axis xyz="0 1 0"/>
        
    </joint>


    <!-- hand_part_15_sensor_0_bottom -->
    <link name="hand_part_15_sensor_0_bottom">
        <inertial>
            <origin xyz="0 0 0" rpy="0 0 0"/>
            <mass value="0"/>
            <inertia ixx="0" ixy="0" ixz="0" iyy="0" iyz="0" izz="0"/>
        </inertial>
        <visual>
            <origin xyz="0 0 0" rpy="0 0 0"/>
            <geometry>
                <box size="0.3901806440322565 0.2 0.02"/>
            </geometry>
        </visual>
        <collision>
            <origin xyz="0 0 0" rpy="0 0 0"/>
            <geometry>
                <box size="0.3901806440322565 0.2 0.02"/>
            </geometry>
        </collision>
    </link>
    <!-- Joint: hand_part_15, hand_part_15_sensor_0_bottom -->
    <joint name="hand_part_15_hand_part_15_sensor_0_bottom_joint" type="fixed">
        <parent link="hand_part_15"/>
        <child link="hand_part_15_sensor_0_bottom"/>
        <origin xyz="0 0 -0.5"
                rpy="0 0 0"/>
        <axis xyz="0 1 0"/>
        
    </joint>


    <!-- hand_part_15_sensor_0_left -->
    <link name="hand_part_15_sensor_0_left">
        <inertial>
            <origin xyz="0 0 0" rpy="0 0 0"/>
            <mass value="0"/>
            <inertia ixx="0" ixy="0" ixz="0" iyy="0" iyz="0" izz="0"/>
        </inertial>
        <visual>
            <origin xyz="0 0 0" rpy="0 0 0"/>
            <geometry>
                <box size="0.3901806440322565 0.02 1"/>
            </geometry>
        </visual>
        <collision>
            <origin xyz="0 0 0" rpy="0 0 0"/>
            <geometry>
                <box size="0.3901806440322565 0.02 1"/>
            </geometry>
        </collision>
    </link>
    <!-- Joint: hand_part_15, hand_part_15_sensor_0_left -->
    <joint name="hand_part_15_hand_part_15_sensor_0_left_joint" type="fixed">
        <parent link="hand_part_15"/>
        <child link="hand_part_15_sensor_0_left"/>
        <origin xyz="0 0.1 0"
                rpy="0 0 0"/>
        <axis xyz="0 1 0"/>
        
    </joint>


    <!-- hand_part_15_sensor_0_right -->
    <link name="hand_part_15_sensor_0_right">
        <inertial>
            <origin xyz="0 0 0" rpy="0 0 0"/>
            <mass value="0"/>
            <inertia ixx="0" ixy="0" ixz="0" iyy="0" iyz="0" izz="0"/>
        </inertial>
        <visual>
            <origin xyz="0 0 0" rpy="0 0 0"/>
            <geometry>
                <box size="0.3901806440322565 0.02 1"/>
            </geometry>
        </visual>
        <collision>
            <origin xyz="0 0 0" rpy="0 0 0"/>
            <geometry>
                <box size="0.3901806440322565 0.02 1"/>
            </geometry>
        </collision>
    </link>
    <!-- Joint: hand_part_15, hand_part_15_sensor_0_right -->
    <joint name="hand_part_15_hand_part_15_sensor_0_right_joint" type="fixed">
        <parent link="hand_part_15"/>
        <child link="hand_part_15_sensor_0_right"/>
        <origin xyz="0 -0.1 0"
                rpy="0 0 0"/>
        <axis xyz="0 1 0"/>
        
    </joint>
    <!-- Joint: wrist, hand_part_15 -->
    <joint name="wrist_hand_part_15_joint" type="fixed">
        <parent link="wrist"/>
        <child link="hand_part_15"/>
        <origin xyz="0.1253421659496572 -0.3753302775178658 -0.5"
                rpy="0.5 0 4.319689898685965"/>
        <axis xyz="0 1 0"/>
        
    </joint>


    <!-- body_face_front_0 -->
    <link name="body_face_front_0">
        <inertial>
            <origin xyz="0 0 0" rpy="0 0 0"/>
            <mass value="0"/>
            <inertia ixx="0.05" ixy="0.05" ixz="0.05" iyy="0.05" iyz="0.05" izz="0.05"/>
        </inertial>
        <visual>
            <origin xyz="0 0 0" rpy="0 0 0"/>
            <geometry>
                <box size="0.002 0.1111111111111111 0.1111111111111111"/>
            </geometry>
        </visual>
        <collision>
            <origin xyz="0 0 0" rpy="0 0 0"/>
            <geometry>
                <box size="0.002 0.1111111111111111 0.1111111111111111"/>
            </geometry>
        </collision>
    </link>
    <!-- Joint: body, body_face_front_0 -->
    <joint name="body_body_face_front_0_joint" type="fixed">
        <parent link="body"/>
        <child link="body_face_front_0"/>
        <origin xyz="0.501 -0.33333333333333337 0.11111111111111116"
                rpy="0 0 0"/>
        <axis xyz="0 0 1"/>
        
    </joint>


    <!-- body_face_front_1 -->
    <link name="body_face_front_1">
        <inertial>
            <origin xyz="0 0 0" rpy="0 0 0"/>
            <mass value="0"/>
            <inertia ixx="0.05" ixy="0.05" ixz="0.05" iyy="0.05" iyz="0.05" izz="0.05"/>
        </inertial>
        <visual>
            <origin xyz="0 0 0" rpy="0 0 0"/>
            <geometry>
                <box size="0.002 0.1111111111111111 0.1111111111111111"/>
            </geometry>
        </visual>
        <collision>
            <origin xyz="0 0 0" rpy="0 0 0"/>
            <geometry>
                <box size="0.002 0.1111111111111111 0.1111111111111111"/>
            </geometry>
        </collision>
    </link>
    <!-- Joint: body, body_face_front_1 -->
    <joint name="body_body_face_front_1_joint" type="fixed">
        <parent link="body"/>
        <child link="body_face_front_1"/>
        <origin xyz="0.501 -0.2222222222222222 0.2222222222222222"
                rpy="0 0 0"/>
        <axis xyz="0 0 1"/>
        
    </joint>


    <!-- body_face_front_2 -->
    <link name="body_face_front_2">
        <inertial>
            <origin xyz="0 0 0" rpy="0 0 0"/>
            <mass value="0"/>
            <inertia ixx="0.05" ixy="0.05" ixz="0.05" iyy="0.05" iyz="0.05" izz="0.05"/>
        </inertial>
        <visual>
            <origin xyz="0 0 0" rpy="0 0 0"/>
            <geometry>
                <box size="0.002 0.1111111111111111 0.1111111111111111"/>
            </geometry>
        </visual>
        <collision>
            <origin xyz="0 0 0" rpy="0 0 0"/>
            <geometry>
                <box size="0.002 0.1111111111111111 0.1111111111111111"/>
            </geometry>
        </collision>
    </link>
    <!-- Joint: body, body_face_front_2 -->
    <joint name="body_body_face_front_2_joint" type="fixed">
        <parent link="body"/>
        <child link="body_face_front_2"/>
        <origin xyz="0.501 -0.1111111111111111 0.11111111111111116"
                rpy="0 0 0"/>
        <axis xyz="0 0 1"/>
        
    </joint>


    <!-- body_face_front_3 -->
    <link name="body_face_front_3">
        <inertial>
            <origin xyz="0 0 0" rpy="0 0 0"/>
            <mass value="0"/>
            <inertia ixx="0.05" ixy="0.05" ixz="0.05" iyy="0.05" iyz="0.05" izz="0.05"/>
        </inertial>
        <visual>
            <origin xyz="0 0 0" rpy="0 0 0"/>
            <geometry>
                <box size="0.002 0.1111111111111111 0.1111111111111111"/>
            </geometry>
        </visual>
        <collision>
            <origin xyz="0 0 0" rpy="0 0 0"/>
            <geometry>
                <box size="0.002 0.1111111111111111 0.1111111111111111"/>
            </geometry>
        </collision>
    </link>
    <!-- Joint: body, body_face_front_3 -->
    <joint name="body_body_face_front_3_joint" type="fixed">
        <parent link="body"/>
        <child link="body_face_front_3"/>
        <origin xyz="0.501 -0.1111111111111111 -0.2222222222222222"
                rpy="0 0 0"/>
        <axis xyz="0 0 1"/>
        
    </joint>


    <!-- body_face_front_4 -->
    <link name="body_face_front_4">
        <inertial>
            <origin xyz="0 0 0" rpy="0 0 0"/>
            <mass value="0"/>
            <inertia ixx="0.05" ixy="0.05" ixz="0.05" iyy="0.05" iyz="0.05" izz="0.05"/>
        </inertial>
        <visual>
            <origin xyz="0 0 0" rpy="0 0 0"/>
            <geometry>
                <box size="0.002 0.1111111111111111 0.1111111111111111"/>
            </geometry>
        </visual>
        <collision>
            <origin xyz="0 0 0" rpy="0 0 0"/>
            <geometry>
                <box size="0.002 0.1111111111111111 0.1111111111111111"/>
            </geometry>
        </collision>
    </link>
    <!-- Joint: body, body_face_front_4 -->
    <joint name="body_body_face_front_4_joint" type="fixed">
        <parent link="body"/>
        <child link="body_face_front_4"/>
        <origin xyz="0.501 0.0 -0.2222222222222222"
                rpy="0 0 0"/>
        <axis xyz="0 0 1"/>
        
    </joint>


    <!-- body_face_front_5 -->
    <link name="body_face_front_5">
        <inertial>
            <origin xyz="0 0 0" rpy="0 0 0"/>
            <mass value="0"/>
            <inertia ixx="0.05" ixy="0.05" ixz="0.05" iyy="0.05" iyz="0.05" izz="0.05"/>
        </inertial>
        <visual>
            <origin xyz="0 0 0" rpy="0 0 0"/>
            <geometry>
                <box size="0.002 0.1111111111111111 0.1111111111111111"/>
            </geometry>
        </visual>
        <collision>
            <origin xyz="0 0 0" rpy="0 0 0"/>
            <geometry>
                <box size="0.002 0.1111111111111111 0.1111111111111111"/>
            </geometry>
        </collision>
    </link>
    <!-- Joint: body, body_face_front_5 -->
    <joint name="body_body_face_front_5_joint" type="fixed">
        <parent link="body"/>
        <child link="body_face_front_5"/>
        <origin xyz="0.501 0.11111111111111116 0.11111111111111116"
                rpy="0 0 0"/>
        <axis xyz="0 0 1"/>
        
    </joint>


    <!-- body_face_front_6 -->
    <link name="body_face_front_6">
        <inertial>
            <origin xyz="0 0 0" rpy="0 0 0"/>
            <mass value="0"/>
            <inertia ixx="0.05" ixy="0.05" ixz="0.05" iyy="0.05" iyz="0.05" izz="0.05"/>
        </inertial>
        <visual>
            <origin xyz="0 0 0" rpy="0 0 0"/>
            <geometry>
                <box size="0.002 0.1111111111111111 0.1111111111111111"/>
            </geometry>
        </visual>
        <collision>
            <origin xyz="0 0 0" rpy="0 0 0"/>
            <geometry>
                <box size="0.002 0.1111111111111111 0.1111111111111111"/>
            </geometry>
        </collision>
    </link>
    <!-- Joint: body, body_face_front_6 -->
    <joint name="body_body_face_front_6_joint" type="fixed">
        <parent link="body"/>
        <child link="body_face_front_6"/>
        <origin xyz="0.501 0.11111111111111116 -0.2222222222222222"
                rpy="0 0 0"/>
        <axis xyz="0 0 1"/>
        
    </joint>


    <!-- body_face_front_7 -->
    <link name="body_face_front_7">
        <inertial>
            <origin xyz="0 0 0" rpy="0 0 0"/>
            <mass value="0"/>
            <inertia ixx="0.05" ixy="0.05" ixz="0.05" iyy="0.05" iyz="0.05" izz="0.05"/>
        </inertial>
        <visual>
            <origin xyz="0 0 0" rpy="0 0 0"/>
            <geometry>
                <box size="0.002 0.1111111111111111 0.1111111111111111"/>
            </geometry>
        </visual>
        <collision>
            <origin xyz="0 0 0" rpy="0 0 0"/>
            <geometry>
                <box size="0.002 0.1111111111111111 0.1111111111111111"/>
            </geometry>
        </collision>
    </link>
    <!-- Joint: body, body_face_front_7 -->
    <joint name="body_body_face_front_7_joint" type="fixed">
        <parent link="body"/>
        <child link="body_face_front_7"/>
        <origin xyz="0.501 0.2222222222222222 0.2222222222222222"
                rpy="0 0 0"/>
        <axis xyz="0 0 1"/>
        
    </joint>


    <!-- body_face_front_8 -->
    <link name="body_face_front_8">
        <inertial>
            <origin xyz="0 0 0" rpy="0 0 0"/>
            <mass value="0"/>
            <inertia ixx="0.05" ixy="0.05" ixz="0.05" iyy="0.05" iyz="0.05" izz="0.05"/>
        </inertial>
        <visual>
            <origin xyz="0 0 0" rpy="0 0 0"/>
            <geometry>
                <box size="0.002 0.1111111111111111 0.1111111111111111"/>
            </geometry>
        </visual>
        <collision>
            <origin xyz="0 0 0" rpy="0 0 0"/>
            <geometry>
                <box size="0.002 0.1111111111111111 0.1111111111111111"/>
            </geometry>
        </collision>
    </link>
    <!-- Joint: body, body_face_front_8 -->
    <joint name="body_body_face_front_8_joint" type="fixed">
        <parent link="body"/>
        <child link="body_face_front_8"/>
        <origin xyz="0.501 0.33333333333333337 0.11111111111111116"
                rpy="0 0 0"/>
        <axis xyz="0 0 1"/>
        
    </joint>


    <!-- body_face_top_0 -->
    <link name="body_face_top_0">
        <inertial>
            <origin xyz="0 0 0" rpy="0 0 0"/>
            <mass value="0"/>
            <inertia ixx="0.05" ixy="0.05" ixz="0.05" iyy="0.05" iyz="0.05" izz="0.05"/>
        </inertial>
        <visual>
            <origin xyz="0 0 0" rpy="0 0 0"/>
            <geometry>
                <box size="0.1111111111111111 0.1111111111111111 0.002"/>
            </geometry>
        </visual>
        <collision>
            <origin xyz="0 0 0" rpy="0 0 0"/>
            <geometry>
                <box size="0.1111111111111111 0.1111111111111111 0.002"/>
            </geometry>
        </collision>
    </link>
    <!-- Joint: body, body_face_top_0 -->
    <joint name="body_body_face_top_0_joint" type="fixed">
        <parent link="body"/>
        <child link="body_face_top_0"/>
        <origin xyz="0.11111111111111116 -0.2222222222222222 0.501"
                rpy="0 0 0"/>
        <axis xyz="0 0 1"/>
        
    </joint>


    <!-- body_face_top_1 -->
    <link name="body_face_top_1">
        <inertial>
            <origin xyz="0 0 0" rpy="0 0 0"/>
            <mass value="0"/>
            <inertia ixx="0.05" ixy="0.05" ixz="0.05" iyy="0.05" iyz="0.05" izz="0.05"/>
        </inertial>
        <visual>
            <origin xyz="0 0 0" rpy="0 0 0"/>
            <geometry>
                <box size="0.1111111111111111 0.1111111111111111 0.002"/>
            </geometry>
        </visual>
        <collision>
            <origin xyz="0 0 0" rpy="0 0 0"/>
            <geometry>
                <box size="0.1111111111111111 0.1111111111111111 0.002"/>
            </geometry>
        </collision>
    </link>
    <!-- Joint: body, body_face_top_1 -->
    <joint name="body_body_face_top_1_joint" type="fixed">
        <parent link="body"/>
        <child link="body_face_top_1"/>
        <origin xyz="0.11111111111111116 -0.1111111111111111 0.501"
                rpy="0 0 0"/>
        <axis xyz="0 0 1"/>
        
    </joint>


    <!-- body_face_top_2 -->
    <link name="body_face_top_2">
        <inertial>
            <origin xyz="0 0 0" rpy="0 0 0"/>
            <mass value="0"/>
            <inertia ixx="0.05" ixy="0.05" ixz="0.05" iyy="0.05" iyz="0.05" izz="0.05"/>
        </inertial>
        <visual>
            <origin xyz="0 0 0" rpy="0 0 0"/>
            <geometry>
                <box size="0.1111111111111111 0.1111111111111111 0.002"/>
            </geometry>
        </visual>
        <collision>
            <origin xyz="0 0 0" rpy="0 0 0"/>
            <geometry>
                <box size="0.1111111111111111 0.1111111111111111 0.002"/>
            </geometry>
        </collision>
    </link>
    <!-- Joint: body, body_face_top_2 -->
    <joint name="body_body_face_top_2_joint" type="fixed">
        <parent link="body"/>
        <child link="body_face_top_2"/>
        <origin xyz="0.2222222222222222 -0.1111111111111111 0.501"
                rpy="0 0 0"/>
        <axis xyz="0 0 1"/>
        
    </joint>


    <!-- body_face_top_3 -->
    <link name="body_face_top_3">
        <inertial>
            <origin xyz="0 0 0" rpy="0 0 0"/>
            <mass value="0"/>
            <inertia ixx="0.05" ixy="0.05" ixz="0.05" iyy="0.05" iyz="0.05" izz="0.05"/>
        </inertial>
        <visual>
            <origin xyz="0 0 0" rpy="0 0 0"/>
            <geometry>
                <box size="0.1111111111111111 0.1111111111111111 0.002"/>
            </geometry>
        </visual>
        <collision>
            <origin xyz="0 0 0" rpy="0 0 0"/>
            <geometry>
                <box size="0.1111111111111111 0.1111111111111111 0.002"/>
            </geometry>
        </collision>
    </link>
    <!-- Joint: body, body_face_top_3 -->
    <joint name="body_body_face_top_3_joint" type="fixed">
        <parent link="body"/>
        <child link="body_face_top_3"/>
        <origin xyz="-0.33333333333333337 0.0 0.501"
                rpy="0 0 0"/>
        <axis xyz="0 0 1"/>
        
    </joint>


    <!-- body_face_top_4 -->
    <link name="body_face_top_4">
        <inertial>
            <origin xyz="0 0 0" rpy="0 0 0"/>
            <mass value="0"/>
            <inertia ixx="0.05" ixy="0.05" ixz="0.05" iyy="0.05" iyz="0.05" izz="0.05"/>
        </inertial>
        <visual>
            <origin xyz="0 0 0" rpy="0 0 0"/>
            <geometry>
                <box size="0.1111111111111111 0.1111111111111111 0.002"/>
            </geometry>
        </visual>
        <collision>
            <origin xyz="0 0 0" rpy="0 0 0"/>
            <geometry>
                <box size="0.1111111111111111 0.1111111111111111 0.002"/>
            </geometry>
        </collision>
    </link>
    <!-- Joint: body, body_face_top_4 -->
    <joint name="body_body_face_top_4_joint" type="fixed">
        <parent link="body"/>
        <child link="body_face_top_4"/>
        <origin xyz="-0.2222222222222222 0.0 0.501"
                rpy="0 0 0"/>
        <axis xyz="0 0 1"/>
        
    </joint>


    <!-- body_face_top_5 -->
    <link name="body_face_top_5">
        <inertial>
            <origin xyz="0 0 0" rpy="0 0 0"/>
            <mass value="0"/>
            <inertia ixx="0.05" ixy="0.05" ixz="0.05" iyy="0.05" iyz="0.05" izz="0.05"/>
        </inertial>
        <visual>
            <origin xyz="0 0 0" rpy="0 0 0"/>
            <geometry>
                <box size="0.1111111111111111 0.1111111111111111 0.002"/>
            </geometry>
        </visual>
        <collision>
            <origin xyz="0 0 0" rpy="0 0 0"/>
            <geometry>
                <box size="0.1111111111111111 0.1111111111111111 0.002"/>
            </geometry>
        </collision>
    </link>
    <!-- Joint: body, body_face_top_5 -->
    <joint name="body_body_face_top_5_joint" type="fixed">
        <parent link="body"/>
        <child link="body_face_top_5"/>
        <origin xyz="-0.1111111111111111 0.0 0.501"
                rpy="0 0 0"/>
        <axis xyz="0 0 1"/>
        
    </joint>


    <!-- body_face_top_6 -->
    <link name="body_face_top_6">
        <inertial>
            <origin xyz="0 0 0" rpy="0 0 0"/>
            <mass value="0"/>
            <inertia ixx="0.05" ixy="0.05" ixz="0.05" iyy="0.05" iyz="0.05" izz="0.05"/>
        </inertial>
        <visual>
            <origin xyz="0 0 0" rpy="0 0 0"/>
            <geometry>
                <box size="0.1111111111111111 0.1111111111111111 0.002"/>
            </geometry>
        </visual>
        <collision>
            <origin xyz="0 0 0" rpy="0 0 0"/>
            <geometry>
                <box size="0.1111111111111111 0.1111111111111111 0.002"/>
            </geometry>
        </collision>
    </link>
    <!-- Joint: body, body_face_top_6 -->
    <joint name="body_body_face_top_6_joint" type="fixed">
        <parent link="body"/>
        <child link="body_face_top_6"/>
        <origin xyz="0.0 0.0 0.501"
                rpy="0 0 0"/>
        <axis xyz="0 0 1"/>
        
    </joint>


    <!-- body_face_top_7 -->
    <link name="body_face_top_7">
        <inertial>
            <origin xyz="0 0 0" rpy="0 0 0"/>
            <mass value="0"/>
            <inertia ixx="0.05" ixy="0.05" ixz="0.05" iyy="0.05" iyz="0.05" izz="0.05"/>
        </inertial>
        <visual>
            <origin xyz="0 0 0" rpy="0 0 0"/>
            <geometry>
                <box size="0.1111111111111111 0.1111111111111111 0.002"/>
            </geometry>
        </visual>
        <collision>
            <origin xyz="0 0 0" rpy="0 0 0"/>
            <geometry>
                <box size="0.1111111111111111 0.1111111111111111 0.002"/>
            </geometry>
        </collision>
    </link>
    <!-- Joint: body, body_face_top_7 -->
    <joint name="body_body_face_top_7_joint" type="fixed">
        <parent link="body"/>
        <child link="body_face_top_7"/>
        <origin xyz="0.11111111111111116 0.0 0.501"
                rpy="0 0 0"/>
        <axis xyz="0 0 1"/>
        
    </joint>


    <!-- body_face_top_8 -->
    <link name="body_face_top_8">
        <inertial>
            <origin xyz="0 0 0" rpy="0 0 0"/>
            <mass value="0"/>
            <inertia ixx="0.05" ixy="0.05" ixz="0.05" iyy="0.05" iyz="0.05" izz="0.05"/>
        </inertial>
        <visual>
            <origin xyz="0 0 0" rpy="0 0 0"/>
            <geometry>
                <box size="0.1111111111111111 0.1111111111111111 0.002"/>
            </geometry>
        </visual>
        <collision>
            <origin xyz="0 0 0" rpy="0 0 0"/>
            <geometry>
                <box size="0.1111111111111111 0.1111111111111111 0.002"/>
            </geometry>
        </collision>
    </link>
    <!-- Joint: body, body_face_top_8 -->
    <joint name="body_body_face_top_8_joint" type="fixed">
        <parent link="body"/>
        <child link="body_face_top_8"/>
        <origin xyz="0.2222222222222222 0.0 0.501"
                rpy="0 0 0"/>
        <axis xyz="0 0 1"/>
        
    </joint>


    <!-- body_face_top_9 -->
    <link name="body_face_top_9">
        <inertial>
            <origin xyz="0 0 0" rpy="0 0 0"/>
            <mass value="0"/>
            <inertia ixx="0.05" ixy="0.05" ixz="0.05" iyy="0.05" iyz="0.05" izz="0.05"/>
        </inertial>
        <visual>
            <origin xyz="0 0 0" rpy="0 0 0"/>
            <geometry>
                <box size="0.1111111111111111 0.1111111111111111 0.002"/>
            </geometry>
        </visual>
        <collision>
            <origin xyz="0 0 0" rpy="0 0 0"/>
            <geometry>
                <box size="0.1111111111111111 0.1111111111111111 0.002"/>
            </geometry>
        </collision>
    </link>
    <!-- Joint: body, body_face_top_9 -->
    <joint name="body_body_face_top_9_joint" type="fixed">
        <parent link="body"/>
        <child link="body_face_top_9"/>
        <origin xyz="0.33333333333333337 0.0 0.501"
                rpy="0 0 0"/>
        <axis xyz="0 0 1"/>
        
    </joint>


    <!-- body_face_top_10 -->
    <link name="body_face_top_10">
        <inertial>
            <origin xyz="0 0 0" rpy="0 0 0"/>
            <mass value="0"/>
            <inertia ixx="0.05" ixy="0.05" ixz="0.05" iyy="0.05" iyz="0.05" izz="0.05"/>
        </inertial>
        <visual>
            <origin xyz="0 0 0" rpy="0 0 0"/>
            <geometry>
                <box size="0.1111111111111111 0.1111111111111111 0.002"/>
            </geometry>
        </visual>
        <collision>
            <origin xyz="0 0 0" rpy="0 0 0"/>
            <geometry>
                <box size="0.1111111111111111 0.1111111111111111 0.002"/>
            </geometry>
        </collision>
    </link>
    <!-- Joint: body, body_face_top_10 -->
    <joint name="body_body_face_top_10_joint" type="fixed">
        <parent link="body"/>
        <child link="body_face_top_10"/>
        <origin xyz="0.11111111111111116 0.11111111111111116 0.501"
                rpy="0 0 0"/>
        <axis xyz="0 0 1"/>
        
    </joint>


    <!-- body_face_top_11 -->
    <link name="body_face_top_11">
        <inertial>
            <origin xyz="0 0 0" rpy="0 0 0"/>
            <mass value="0"/>
            <inertia ixx="0.05" ixy="0.05" ixz="0.05" iyy="0.05" iyz="0.05" izz="0.05"/>
        </inertial>
        <visual>
            <origin xyz="0 0 0" rpy="0 0 0"/>
            <geometry>
                <box size="0.1111111111111111 0.1111111111111111 0.002"/>
            </geometry>
        </visual>
        <collision>
            <origin xyz="0 0 0" rpy="0 0 0"/>
            <geometry>
                <box size="0.1111111111111111 0.1111111111111111 0.002"/>
            </geometry>
        </collision>
    </link>
    <!-- Joint: body, body_face_top_11 -->
    <joint name="body_body_face_top_11_joint" type="fixed">
        <parent link="body"/>
        <child link="body_face_top_11"/>
        <origin xyz="0.2222222222222222 0.11111111111111116 0.501"
                rpy="0 0 0"/>
        <axis xyz="0 0 1"/>
        
    </joint>


    <!-- body_face_top_12 -->
    <link name="body_face_top_12">
        <inertial>
            <origin xyz="0 0 0" rpy="0 0 0"/>
            <mass value="0"/>
            <inertia ixx="0.05" ixy="0.05" ixz="0.05" iyy="0.05" iyz="0.05" izz="0.05"/>
        </inertial>
        <visual>
            <origin xyz="0 0 0" rpy="0 0 0"/>
            <geometry>
                <box size="0.1111111111111111 0.1111111111111111 0.002"/>
            </geometry>
        </visual>
        <collision>
            <origin xyz="0 0 0" rpy="0 0 0"/>
            <geometry>
                <box size="0.1111111111111111 0.1111111111111111 0.002"/>
            </geometry>
        </collision>
    </link>
    <!-- Joint: body, body_face_top_12 -->
    <joint name="body_body_face_top_12_joint" type="fixed">
        <parent link="body"/>
        <child link="body_face_top_12"/>
        <origin xyz="0.11111111111111116 0.2222222222222222 0.501"
                rpy="0 0 0"/>
        <axis xyz="0 0 1"/>
        
    </joint>


</robot>
